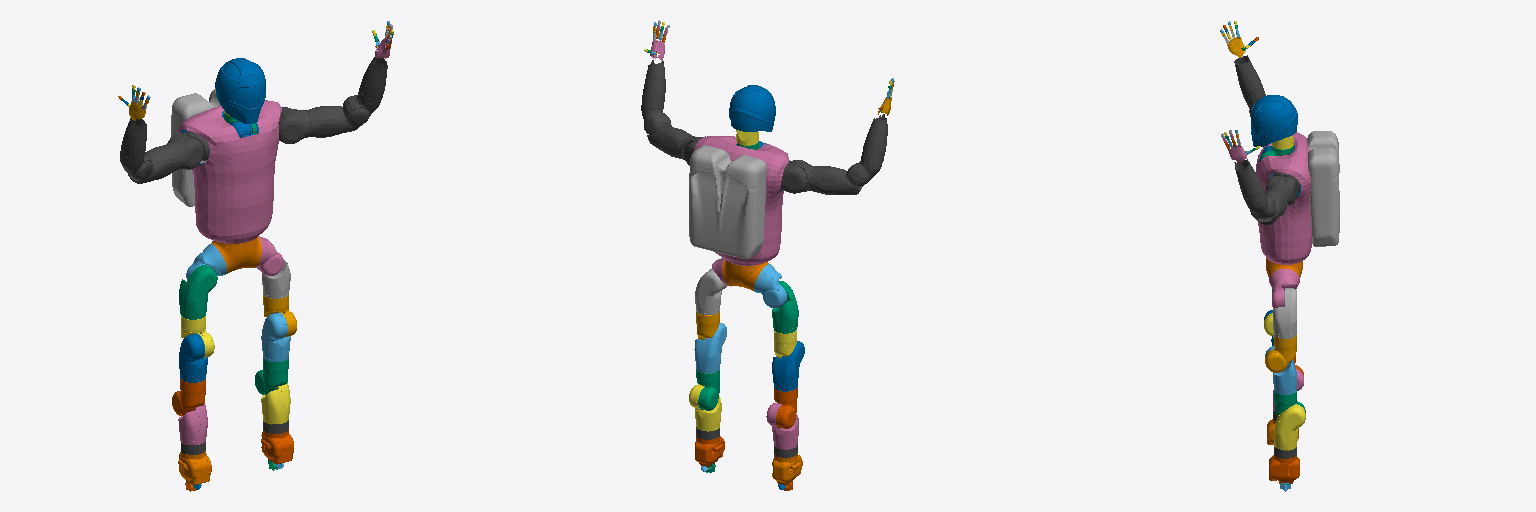
--- Render facts (derived) ---
3 views of the same robot in one strip: view 1: azimuth 30°, elevation 25°; view 2: azimuth 150°, elevation 25°; view 3: azimuth 270°, elevation 25° (orthographic).
Model r2 with 130 links and 129 joints (73 revolute, 1 prismatic, 55 fixed), rooted at world, posed joints at zero except 4 at the middle of their limits (r2/left_arm/joint2 = -2.84, r2/left_arm/joint3 = -1.44, r2/right_arm/joint2 = 2.84, r2/right_arm/joint3 = -1.44).
Links seen in each view (by area): view 1: r2/body_cover, r2/neck_roll, r2/backpack, r2/right_hip_pitch, r2/left_upper_arm, r2/left_knee, r2/right_knee, r2/right_upper_arm, r2/pelvis, r2/left_lower_arm, r2/left_shoulder_pitch, r2/right_lower_arm (+12 smaller); view 2: r2/backpack, r2/body_cover, r2/neck_roll, r2/right_upper_arm, r2/right_knee, r2/left_knee, r2/left_hip_pitch, r2/right_hip_roll, r2/left_lower_arm, r2/right_lower_arm, r2/right_hip_pitch, r2/pelvis (+10 smaller); view 3: r2/body_cover, r2/backpack, r2/neck_roll, r2/left_ankle_pitch, r2/left_hip_pitch, r2/right_lower_arm, r2/left_lower_arm, r2/left_upper_leg, r2/left_leg_foot, r2/left_hip_roll, r2/left_knee, r2/left_upper_arm.
Boxes of the visible links, left/top/right/bottom form: r2/body_cover: left=178, top=100, right=281, bottom=243; r2/neck_roll: left=215, top=58, right=265, bottom=123; r2/backpack: left=171, top=88, right=220, bottom=206; r2/right_hip_pitch: left=179, top=265, right=217, bottom=319; r2/left_upper_arm: left=306, top=106, right=369, bottom=137; r2/left_knee: left=261, top=312, right=290, bottom=361; r2/right_knee: left=179, top=333, right=207, bottom=382; r2/right_upper_arm: left=128, top=145, right=179, bottom=183; r2/pelvis: left=211, top=237, right=261, bottom=273; r2/left_lower_arm: left=358, top=57, right=387, bottom=103; r2/left_shoulder_pitch: left=279, top=109, right=310, bottom=143; r2/right_lower_arm: left=120, top=118, right=146, bottom=163; r2/backpack: left=689, top=145, right=766, bottom=258; r2/body_cover: left=694, top=136, right=788, bottom=265; r2/neck_roll: left=729, top=85, right=775, bottom=131; r2/right_upper_arm: left=811, top=166, right=862, bottom=194; r2/right_knee: left=772, top=341, right=804, bottom=391; r2/left_knee: left=694, top=323, right=726, bottom=372; r2/left_hip_pitch: left=695, top=269, right=725, bottom=314; r2/right_hip_roll: left=754, top=264, right=786, bottom=308; r2/left_lower_arm: left=642, top=60, right=665, bottom=107; r2/right_lower_arm: left=861, top=114, right=887, bottom=162; r2/right_hip_pitch: left=772, top=281, right=798, bottom=333; r2/pelvis: left=722, top=260, right=768, bottom=290; r2/body_cover: left=1256, top=132, right=1311, bottom=264; r2/backpack: left=1307, top=131, right=1339, bottom=246; r2/neck_roll: left=1251, top=95, right=1297, bottom=146; r2/left_ankle_pitch: left=1274, top=404, right=1305, bottom=450; r2/left_hip_pitch: left=1273, top=288, right=1296, bottom=338; r2/right_lower_arm: left=1234, top=55, right=1264, bottom=100; r2/left_lower_arm: left=1234, top=159, right=1265, bottom=203; r2/left_upper_leg: left=1265, top=335, right=1296, bottom=372; r2/left_leg_foot: left=1269, top=455, right=1299, bottom=483; r2/left_hip_roll: left=1269, top=269, right=1299, bottom=308; r2/left_knee: left=1265, top=346, right=1296, bottom=394; r2/left_upper_arm: left=1250, top=187, right=1288, bottom=224.
Size in the robot's own frame: 1.55 by 0.6953 by 2.53 metres.
69 mesh visuals loaded from 33 distinct referenced files (33 Collada DAE).

The robot description file, URDF, robot "r2":
<?xml version="1.0" ?>
<!-- =================================================================================== -->
<!-- |    This document was autogenerated by xacro from r2_fullbody.sim.urdf.xacro     | -->
<!-- |    EDITING THIS FILE BY HAND IS NOT RECOMMENDED                                 | -->
<!-- =================================================================================== -->
<robot name="r2" xmlns:controller="http://playerstage.sourceforge.net/gazebo/xmlschema/#controller" xmlns:interface="http://playerstage.sourceforge.net/gazebo/xmlschema/#interface" xmlns:sensor="http://playerstage.sourceforge.net/gazebo/xmlschema/#sensor" xmlns:xacro="http://playerstage.sourceforge.net/gazebo/xmlschema/#interface">
  <link name="world"/>
  <joint name="r2/fixed/world/robot_world" type="fixed">
    <parent link="world"/>
    <child link="r2/robot_world"/>
    <origin rpy="0 0 0.0" xyz="0.0 0.0 0.0"/>
  </joint>
  <link name="r2/robot_world"/>
  <joint name="r2/fixed/robot_world/robot_base" type="fixed">
    <parent link="r2/robot_world"/>
    <child link="r2/robot_base"/>
    <origin rpy="0 3.14159 1.57079" xyz="0.255 0.9 1.365"/>
  </joint>
  <link name="r2/robot_base"/>
  <joint name="r2/fixed/robot_base/leg_stand_connection" type="fixed">
    <parent link="r2/robot_base"/>
    <child link="r2/leg_stand_connection"/>
    <origin rpy="0 3.14159 0" xyz="0.0 0.0 0.0"/>
  </joint>
  <link name="r2/leg_stand_connection">
    <inertial>
      <mass value="0.01"/>
      <inertia ixx="0.0001" ixy="0.0" ixz="0.0" iyy="0.001" iyz="0.0" izz="0.001"/>
    </inertial>
  </link>
  <material name="white">
    <color rgba="1.0 1.0 1.0 1.0"/>
  </material>
  <material name="dirty_white">
    <color rgba="0.322 0.322 0.322 1.0"/>
  </material>
  <material name="gold">
    <color rgba=".878 .49 0.008 1"/>
  </material>
  <material name="steel">
    <color rgba=".7 .7 .7 1"/>
  </material>
  <material name="blue">
    <color rgba="0 0 0.8 1"/>
  </material>
  <joint name="r2/waist/joint0" type="revolute">
    <parent link="r2/robot_base"/>
    <child link="r2/waist_center"/>
    <axis xyz="0 0 1"/>
    <origin rpy="0.0 0 0.0" xyz="0.0 0.0 0.0"/>
    <dynamics damping="20.0" friction="1.0"/>
    <limit effort="10000000.0" lower="-3.14" upper="3.14" velocity="1000"/>
  </joint>
  <link name="r2/waist_center">
    <visual>
      <geometry>
        <mesh filename="package://r2_description/meshes/Body.dae"/>
      </geometry>
      <origin rpy="-1.57 0 -1.57" xyz="0.01 0.05 -0.5625"/>
    </visual>
    <!-- <collision>
      <geometry>
         <mesh filename="package://r2_description/meshes/Body.dae"/>  
      </geometry>
      <origin rpy="-1.57 0 -1.57" xyz="0.00 0.05 -0.5625"/>
    </collision> -->
    <inertial>
      <mass value="10"/>
      <inertia ixx="1" ixy="0.0" ixz="0.0" iyy="1" iyz="0.0" izz="1"/>
    </inertial>
  </link>
  <joint name="r2/fixed/waist_center/robot_reference" type="fixed">
    <parent link="r2/waist_center"/>
    <child link="r2/robot_reference"/>
    <origin rpy="0.0 0 0.0" xyz="0.1234 0.0 0.0"/>
  </joint>
  <joint name="r2/fixed/waist_center/body_cover" type="fixed">
    <parent link="r2/waist_center"/>
    <child link="r2/body_cover"/>
    <origin rpy="0.0 0.0 0.0" xyz="0 0.0 0.0"/>
  </joint>
  <joint name="r2/fixed/waist_center/backpack" type="fixed">
    <parent link="r2/waist_center"/>
    <child link="r2/backpack"/>
    <origin rpy="0.0 0.0 0.0" xyz="0 0.0 0.0"/>
  </joint>
  <joint name="r2/fixed/waist_center/chest_center" type="fixed">
    <parent link="r2/waist_center"/>
    <child link="r2/chest_center"/>
    <origin rpy="0.0 0.0 0.0" xyz="-0.01235 0.0 0.0"/>
  </joint>
  <link name="r2/robot_reference">
    <inertial>
      <mass value="0.01"/>
      <inertia ixx="0.0001" ixy="0.0" ixz="0.0" iyy="0.001" iyz="0.0" izz="0.001"/>
    </inertial>
  </link>
  <link name="r2/body_cover">
    <visual>
      <geometry>
        <mesh filename="package://r2_description/meshes/Body_Cover.dae"/>
      </geometry>
      <!--       <origin rpy="-1.57 0 -1.57" xyz="0.02 0.05 -0.5625"/>
 -->
      <origin rpy="-1.57 0 -1.57" xyz="0.01 0.05 -0.5625"/>
    </visual>
    <collision>
      <geometry>
        <mesh filename="package://r2_description/meshes/Body_Cover.dae"/>
      </geometry>
      <origin rpy="-1.57 0 -1.57" xyz="0.01 0.05 -0.5625"/>
    </collision>
    <inertial>
      <mass value="0.1"/>
      <inertia ixx="0.001" ixy="0.0" ixz="0.0" iyy="0.001" iyz="0.0" izz="0.001"/>
    </inertial>
  </link>
  <link name="r2/backpack">
    <visual>
      <geometry>
        <mesh filename="package://r2_description/meshes/Backpack.dae"/>
      </geometry>
      <origin rpy="0 0 0.25" xyz="0.0 0.0 -0.54"/>
    </visual>
    <collision>
      <geometry>
        <mesh filename="package://r2_description/meshes/Backpack.dae"/>
      </geometry>
      <origin rpy="0 0 0.25" xyz="0.0 0.0 -0.54"/>
    </collision>
    <inertial>
      <mass value="10"/>
      <inertia ixx="1" ixy="0.0" ixz="0.0" iyy="1" iyz="0.0" izz="1"/>
    </inertial>
  </link>
  <link name="r2/chest_center">
    <inertial>
      <mass value="0.01"/>
      <inertia ixx="0.0001" ixy="0.0" ixz="0.0" iyy="0.001" iyz="0.0" izz="0.001"/>
    </inertial>
  </link>
  <joint name="r2/fixed/chest_center/chest_base" type="fixed">
    <parent link="r2/chest_center"/>
    <child link="r2/chest_base"/>
    <origin rpy="0.0 -0.0 0.0 " xyz="-0.05299202 -0.0 -0.5442458"/>
  </joint>
  <link name="r2/chest_base">
    <inertial>
      <mass value="0.01"/>
      <inertia ixx="0.0001" ixy="0.0" ixz="0.0" iyy="0.001" iyz="0.0" izz="0.001"/>
    </inertial>
  </link>
  <joint name="r2/neck/joint0" type="revolute">
    <parent link="r2/waist_center"/>
    <child link="r2/neck_base"/>
    <origin rpy=" -1.570796 -0.0 0.0 " xyz=" 0.08636 0.0 -0.6142228 "/>
    <dynamics damping="1.0" friction="0.0"/>
    <axis xyz="0 0 1"/>
    <limit effort="10000.0" lower="-0.7" upper="0.175" velocity="1000.0"/>
  </joint>
  <link name="r2/neck_base">
    <visual>
      <geometry>
        <mesh filename="package://r2_description/meshes/Neck_Lower.dae"/>
      </geometry>
      <origin rpy="-1.57 1.57 0" xyz="0.0 0.0 0.0"/>
    </visual>
    <inertial>
      <mass value=".1"/>
      <inertia ixx=".0010" ixy="0.0" ixz="0.0" iyy=".0010" iyz="0.0" izz=".0010"/>
    </inertial>
    <collision>
      <geometry>
        <mesh filename="package://r2_description/meshes/Neck_Lower.dae"/>
      </geometry>
      <origin rpy="-1.57 1.57 0" xyz="0.0 0.0 0.0"/>
    </collision>
  </link>
  <joint name="r2/neck/joint1" type="revolute">
    <parent link="r2/neck_base"/>
    <child link="r2/neck_lower_pitch"/>
    <origin rpy=" -1.570796 -0.0 0.0 " xyz=" -0.0762 -0.0 0.0 "/>
    <dynamics damping="1.0" friction="0.0"/>
    <axis xyz="0 0 1"/>
    <limit effort="10000.0" lower="-1.22" upper="1.22" velocity="1000.0"/>
  </joint>
  <link name="r2/neck_lower_pitch">
    <visual>
      <geometry>
        <mesh filename="package://r2_description/meshes/Neck_Upper.dae"/>
      </geometry>
      <origin rpy="0 0 1.57" xyz="0.075 0.0 0.0"/>
    </visual>
    <inertial>
      <mass value=".1"/>
      <inertia ixx=".0010" ixy="0.0" ixz="0.0" iyy=".0010" iyz="0.0" izz=".0010"/>
    </inertial>
    <collision>
      <geometry>
        <mesh filename="package://r2_description/meshes/Neck_Upper.dae"/>
      </geometry>
      <origin rpy="0 0 1.57" xyz="0.075 0.0 0.0"/>
    </collision>
  </link>
  <joint name="r2/neck/joint2" type="revolute">
    <parent link="r2/neck_lower_pitch"/>
    <child link="r2/neck_roll"/>
    <origin rpy=" 1.570796 -0.0 0.0 " xyz=" 0.0508 0.0 0.1777619 "/>
    <dynamics damping="1.0" friction="0.0"/>
    <axis xyz="0 0 1"/>
    <limit effort="10000.0" lower="-0.7" upper="0.175" velocity="1000.0"/>
  </joint>
  <link name="r2/neck_roll">
    <visual>
      <geometry>
        <mesh filename="package://r2_description/meshes/Head.dae"/>
      </geometry>
      <origin rpy="0 1.57 0" xyz="-0.0 0.07 0.0"/>
    </visual>
    <collision>
      <geometry>
        <mesh filename="package://r2_description/meshes/Head.dae"/>
      </geometry>
      <origin rpy="0 1.57 0" xyz="-0.0 0.07 0.0"/>
    </collision>
    <inertial>
      <mass value=".1"/>
      <inertia ixx=".0010" ixy="0.0" ixz="0.0" iyy=".0010" iyz="0.0" izz=".0010"/>
    </inertial>
  </link>
  <joint name="r2/fixed/neck_roll/neck_upper_pitch" type="fixed">
    <parent link="r2/neck_roll"/>
    <child link="r2/neck_upper_pitch"/>
    <origin rpy=" 1.570796 -0.0 0.0 " xyz=" 0.0 0.0 0.0 "/>
  </joint>
  <link name="r2/neck_upper_pitch">
    <inertial>
      <mass value=".1"/>
      <inertia ixx=".0010" ixy="0.0" ixz="0.0" iyy=".0010" iyz="0.0" izz=".0010"/>
    </inertial>
  </link>
  <joint name="r2/fixed/neck_upper_pitch/asus_frame" type="fixed">
    <parent link="r2/neck_upper_pitch"/>
    <child link="r2/asus_frame"/>
    <origin rpy="1.50 0.0 1.57 " xyz="0.12 -0.015 -0.14 "/>
    <!-- OK    <origin rpy="1.45 0 1.57 " xyz="0.11 -0.040 -0.15 "/>  -->
    <!-- ORIGINAL     <origin rpy="1.57 0 1.57 " xyz="0.066675 -0.0508 -0.116205 "/>  -->
  </joint>
  <joint name="r2/fixed/neck_upper_pitch/simulated_asus_camera_frame" type="fixed">
    <parent link="r2/neck_upper_pitch"/>
    <child link="r2/simulated_asus_camera_frame"/>
    <dynamics damping="1.0"/>
    <origin rpy="3.14 0 0" xyz="0.12 -0.015 -0.14 "/>
    <!--     <origin rpy="0 0 0" xyz="0.12 -0.015 -0.14 "/> -->
  </joint>
  <joint name="r2/fixed/neck_upper_pitch/simulated_asus_depth_frame" type="fixed">
    <parent link="r2/neck_upper_pitch"/>
    <child link="r2/simulated_asus_depth_frame"/>
    <dynamics damping="1.0"/>
    <origin rpy="1.57 0 1.57" xyz="0.12 -0.015 -0.14 "/>
    <!--     <origin rpy="0 0 0" xyz="0.12 -0.015 -0.14 "/> -->
  </joint>
  <joint name="r2/fixed/neck_upper_pitch/vision_center_frame" type="fixed">
    <parent link="r2/neck_upper_pitch"/>
    <child link="r2/vision_center_frame"/>
    <dynamics damping="1.0"/>
    <origin rpy="1.57 -1.57 1.57" xyz=" 0.066675 0.0 -0.116205 "/>
  </joint>
  <link name="r2/asus_frame">
    <inertial>
      <mass value=".01"/>
      <inertia ixx=".0010" ixy="0.0" ixz="0.0" iyy=".0010" iyz="0.0" izz=".0010"/>
    </inertial>
  </link>
  <joint name="r2/fixed/asus_frame/openni_depth_frame" type="fixed">
    <parent link="r2/asus_frame"/>
    <child link="r2/openni_depth_frame"/>
    <origin rpy="1.57 -1.57 0 " xyz="0 0 0 "/>
  </joint>
  <link name="r2/openni_depth_frame">
    <inertial>
      <mass value=".01"/>
      <inertia ixx=".0010" ixy="0.0" ixz="0.0" iyy=".0010" iyz="0.0" izz=".0010"/>
    </inertial>
  </link>
  <link name="r2/simulated_asus_camera_frame">
    <inertial>
      <mass value=".01"/>
      <inertia ixx=".0010" ixy="0.0" ixz="0.0" iyy=".0010" iyz="0.0" izz=".0010"/>
    </inertial>
  </link>
  <link name="r2/simulated_asus_depth_frame">
    <inertial>
      <mass value=".01"/>
      <inertia ixx=".0010" ixy="0.0" ixz="0.0" iyy=".0010" iyz="0.0" izz=".0010"/>
    </inertial>
  </link>
  <link name="r2/vision_center_frame">
    <inertial>
      <mass value=".1"/>
      <inertia ixx=".0010" ixy="0.0" ixz="0.0" iyy=".0010" iyz="0.0" izz=".0010"/>
    </inertial>
  </link>
  <joint name="r2/fixed/vision_center_frame/left_camera_frame" type="fixed">
    <parent link="r2/vision_center_frame"/>
    <child link="r2/left_camera_frame"/>
    <dynamics damping="1.0"/>
    <origin rpy="0 0 1.57" xyz="0.0087 0.04887 0.01789"/>
  </joint>
  <joint name="r2/fixed/vision_center_frame/right_camera_frame" type="fixed">
    <parent link="r2/vision_center_frame"/>
    <child link="r2/right_camera_frame"/>
    <dynamics damping="1.0"/>
    <origin rpy="0 0 1.57" xyz="0.0087 -0.04887 0.01789"/>
  </joint>
  <link name="r2/left_camera_frame">
    <inertial>
      <mass value=".1"/>
      <inertia ixx=".0010" ixy="0.0" ixz="0.0" iyy=".0010" iyz="0.0" izz=".0010"/>
    </inertial>
  </link>
  <joint name="r2/fixed/left_camera_frame/left_camera_optical_frame" type="fixed">
    <parent link="r2/left_camera_frame"/>
    <child link="r2/left_camera_optical_frame"/>
    <dynamics damping="1.0"/>
    <origin rpy="-1.57 -1.57 0" xyz="0 0 0"/>
  </joint>
  <link name="r2/left_camera_optical_frame">
    <inertial>
      <mass value=".1"/>
      <inertia ixx=".0010" ixy="0.0" ixz="0.0" iyy=".0010" iyz="0.0" izz=".0010"/>
    </inertial>
  </link>
  <link name="r2/right_camera_frame">
    <inertial>
      <mass value=".1"/>
      <inertia ixx=".0010" ixy="0.0" ixz="0.0" iyy=".0010" iyz="0.0" izz=".0010"/>
    </inertial>
  </link>
  <joint name="r2/fixed/right_camera_frame/right_camera_optical_frame" type="fixed">
    <parent link="r2/right_camera_frame"/>
    <child link="r2/right_camera_optical_frame"/>
    <dynamics damping="1.0"/>
    <origin rpy="-1.57 -1.57 0" xyz="0 0 0"/>
  </joint>
  <link name="r2/right_camera_optical_frame">
    <inertial>
      <mass value=".1"/>
      <inertia ixx=".0010" ixy="0.0" ixz="0.0" iyy=".0010" iyz="0.0" izz=".0010"/>
    </inertial>
  </link>
  <joint name="r2/left_arm/joint0" type="revolute">
    <parent link="r2/chest_base"/>
    <child link="r2/left_shoulder_roll"/>
    <origin rpy=" -1.5664 -0.0 -2.8802 " xyz=" -0.0 -0.0 0.0 "/>
    <axis xyz="0 0 1"/>
    <dynamics damping="10.0" friction="0.0"/>
    <limit effort="100.0" lower="-1.57" upper="1.57" velocity="1000"/>
  </joint>
  <link name="r2/left_shoulder_roll">
    <visual>
      <geometry>
        <mesh filename="package://r2_description/meshes/Left_Shoulder_Upper.dae"/>
      </geometry>
      <material name="dirty_white"/>
      <origin rpy="0 0 1.57" xyz="0 0 .08"/>
    </visual>
    <!-- <collision>
      <geometry>
        <mesh filename="package://r2_description/meshes/Left_Shoulder_Upper.dae" scale="0.7 0.7 0.7"/>
      </geometry>
      <origin rpy="0 0 1.57" xyz="0 0 .08"/>
    </collision> -->
    <inertial>
      <origin xyz="-0.0089916 -0.00131572   0.10287   "/>
      <mass value="6.168856232"/>
      <inertia ixx="0.0198585269" ixy="-0.0060195977" ixz="-0.0003950635" iyy="0.0671900643" iyz="0.00012683" izz="0.0634150128"/>
    </inertial>
  </link>
  <joint name="r2/left_arm/joint1" type="revolute">
    <parent link="r2/left_shoulder_roll"/>
    <child link="r2/left_shoulder_pitch"/>
    <origin rpy=" -1.5701 -0.0 1.570796 " xyz=" 0.0 0.0 0.316611 "/>
    <axis xyz="0 0 1"/>
    <dynamics damping="10.0" friction="0.0"/>
    <limit effort="100.0" lower="-1.66" upper=".175" velocity="1000"/>
  </joint>
  <link name="r2/left_shoulder_pitch">
    <visual>
      <geometry>
        <mesh filename="package://r2_description/meshes/Left_Shoulder_Lower.dae"/>
      </geometry>
      <material name="dirty_white"/>
      <origin rpy=".0 0 -1.57" xyz="0 0 0"/>
    </visual>
    <!-- <collision>
      <geometry>
        <mesh filename="package://r2_description/meshes/Left_Shoulder_Lower.dae"/>
      </geometry>
      <origin rpy=".0 0 -1.57" xyz="0 0 0"/>
    </collision> -->
    <inertial>
      <origin xyz="0.037084 -0.00028448   0.0077978   "/>
      <mass value="4.4270615312"/>
      <inertia ixx="0.02701064" ixy="0.001512947" ixz="-0.000052382497887" iyy="0.0113836825" iyz="0.0000217138622526" izz="0.0251962741"/>
    </inertial>
  </link>
  <joint name="r2/left_arm/joint2" type="revolute">
    <parent link="r2/left_shoulder_pitch"/>
    <child link="r2/left_upper_arm"/>
    <origin rpy=" 1.57 -0.0 0.0 " xyz=" 0.0 0.0 0.0 "/>
    <axis xyz="0 0 1"/>
    <dynamics damping="10.0" friction="0.0"/>
    <limit effort="100.0" lower="-4.89" upper="-0.79" velocity="1000"/>
  </joint>
  <link name="r2/left_upper_arm">
    <visual>
      <geometry>
        <mesh filename="package://r2_description/meshes/Left_Upper_Arm.dae"/>
      </geometry>
      <material name="dirty_white"/>
      <origin rpy="0 0 3.14" xyz="0 0 .1016"/>
    </visual>
    <collision>
      <geometry>
        <mesh filename="package://r2_description/meshes/Left_Upper_Arm.dae" scale="0.8 0.8 0.8"/>
      </geometry>
      <origin rpy="0 0 3.14" xyz="0 0 .1016"/>
    </collision>
    <inertial>
      <origin xyz="-0.0074168 -0.041402   0.1016   "/>
      <mass value="4.853438359"/>
      <inertia ixx="0.016007389" ixy="-0.00339462" ixz="0.0065843922" iyy="0.0462370652" iyz="0.0013754064" izz="0.04214011"/>
    </inertial>
  </link>
  <joint name="r2/left_arm/joint3" type="revolute">
    <parent link="r2/left_upper_arm"/>
    <child link="r2/left_elbow"/>
    <origin rpy=" -1.5748 -0.0 0.0 " xyz=" -0.05437886 -0.0 0.3564382 "/>
    <axis xyz="0 0 1"/>
    <dynamics damping="1.0" friction="0.0"/>
    <limit effort="100.0" lower="-2.79" upper="-.087" velocity="1000"/>
  </joint>
  <link name="r2/left_elbow">
    <visual>
      <geometry>
        <mesh filename="package://r2_description/meshes/Left_Elbow.dae"/>
      </geometry>
      <material name="dirty_white"/>
      <origin rpy="0 0 -1.57" xyz="0 0 0"/>
    </visual>
    <collision>
      <geometry>
        <mesh filename="package://r2_description/meshes/Left_Elbow.dae"/>
      </geometry>
      <origin rpy="0 0 -1.57" xyz="0 0 0"/>
    </collision>
    <inertial>
      <origin xyz="0.026162 0.033782   0.0154432   "/>
      <mass value="2.9710300235"/>
      <inertia ixx="0.0120274897" ixy="0.0016417085" ixz="-0.001188117" iyy="0.0088377175" iyz="0.0031605083" izz="0.0105350275"/>
    </inertial>
  </link>
  <joint name="r2/left_arm/joint4" type="revolute">
    <parent link="r2/left_elbow"/>
    <child link="r2/left_lower_arm"/>
    <origin rpy=" 1.5738 -0.0 0.0 " xyz=" 0.0540385 0.0 0.0 "/>
    <axis xyz="0 0 1"/>
    <dynamics damping="1.0" friction="0.0"/>
    <limit effort="100.0" lower="-1.3" upper="4.45" velocity="1000"/>
  </joint>
  <link name="r2/left_lower_arm">
    <visual>
      <geometry>
        <mesh filename="package://r2_description/meshes/Left_Forearm.dae"/>
      </geometry>
      <origin xyz="0 0 0.1"/>
      <material name="dirty_white"/>
    </visual>
    <collision>
      <geometry>
        <mesh filename="package://r2_description/meshes/Left_Forearm.dae"/>
      </geometry>
      <origin xyz="0 0 0.1"/>
    </collision>
    <inertial>
      <origin xyz="0.0003556 -0.00122682   0.17653   "/>
      <mass value="6.939963261"/>
      <inertia ixx="0.0125249771" ixy="-0.0002446467" ixz="0.0005208986" iyy="0.0395063532" iyz="-0.0001691457" izz="0.0403842721"/>
    </inertial>
  </link>
  <joint name="r2/left_arm/joint5" type="revolute">
    <parent link="r2/left_lower_arm"/>
    <child link="r2/left_wrist_pitch"/>
    <origin rpy=" -1.5952 -0.0 0.0 " xyz=" 0.0 0.0 0.3570478 "/>
    <axis xyz="0 0 1"/>
    <dynamics damping="1.0" friction="0.0"/>
    <limit effort="100.0" lower="-1.22" upper="1.22" velocity="1000"/>
  </joint>
  <link name="r2/left_wrist_pitch">
    <inertial>
      <origin xyz="-0.004064   0.000000152908   -0.00092202"/>
      <mass value="0.1165732391"/>
      <inertia ixx="0.1" ixy="0.0" ixz="0.0" iyy="0.1" iyz="0.0" izz="0.1"/>
    </inertial>
  </link>
  <joint name="r2/left_arm/joint6" type="revolute">
    <parent link="r2/left_wrist_pitch"/>
    <child link="r2/left_wrist_yaw"/>
    <origin rpy=" 1.6505 -0.0 -1.5727 " xyz=" -0.00001156 -0.006072621 0.0 "/>
    <axis xyz="0 0 1"/>
    <dynamics damping="1.0" friction="0.0"/>
    <limit effort="100.0" lower="-0.785" upper="0.785" velocity="1000"/>
  </joint>
  <link name="r2/left_wrist_yaw">
    <inertial>
      <origin xyz="-0.00090932   -0.0253746  0.067564     "/>
      <mass value="0.1"/>
      <inertia ixx="0.1" ixy="0.0" ixz="0.0" iyy="0.1" iyz="0.0" izz="0.1"/>
    </inertial>
  </link>
  <joint name="r2/fixed/left_wrist_yaw/left_palm" type="fixed">
    <parent link="r2/left_wrist_yaw"/>
    <child link="r2/left_palm"/>
    <origin rpy=" 0.0 -0.0 -0.014 " xyz=" 0.0 -0.0 0.0 "/>
  </joint>
  <link name="r2/left_palm">
    <visual>
      <geometry>
        <mesh filename="package://r2_description/meshes/Left_Palm.dae"/>
      </geometry>
      <origin rpy="3.14 0 1.57" xyz="0.0 0.0 -0.0"/>
    </visual>
    <collision>
      <geometry>
        <mesh filename="package://r2_description/meshes/Left_Palm.dae"/>
      </geometry>
      <origin rpy="3.14 0 1.57" xyz="0.0 0.0 -0.0"/>
    </collision>
    <inertial>
      <origin xyz="0.067564   -0.0253746   -0.00090932"/>
      <mass value="1.1"/>
      <inertia ixx="0.1" ixy="0.0" ixz="0.0" iyy="0.1" iyz="0.0" izz="0.1"/>
    </inertial>
  </link>
  <joint name="r2/left_arm/hand/thumb/joint0" type="revolute">
    <parent link="r2/left_wrist_yaw"/>
    <child link="r2/left_thumb_base"/>
    <origin rpy=" -1.57079632679 -0.0 1.30899702752 " xyz=" 0.03302 0.03048 0.00635 "/>
    <axis xyz="0 0 1"/>
    <limit effort="10000000.0" lower="-1.2217" upper="0.0" velocity="1000"/>
    <dynamics damping="0.1" friction="0.0"/>
  </joint>
  <joint name="r2/fixed/left_index_base/left_index_base" type="fixed">
    <parent link="r2/left_wrist_yaw"/>
    <child link="r2/left_index_base"/>
    <origin rpy=" 0.0 -0.0 0.122172725275 " xyz=" 0.0994646728 0.0271119346 -0.0161544 "/>
  </joint>
  <joint name="r2/left_arm/hand/index/joint0" type="revolute">
    <parent link="r2/left_index_base"/>
    <child link="r2/left_index_yaw"/>
    <origin rpy="0.0 0.0 0.0" xyz="0.0 0.0 0.0"/>
    <axis xyz="0 0 1"/>
    <limit effort="10000000.0" lower="-0.3491" upper="0.3491" velocity="1000"/>
    <dynamics damping="0.1" friction="0.0"/>
  </joint>
  <joint name="r2/fixed/left_middle_base/left_middle_base" type="fixed">
    <parent link="r2/left_wrist_yaw"/>
    <child link="r2/left_middle_base"/>
    <origin rpy=" 0.0 -0.0 0.0 " xyz=" 0.10646537 0.00254 -0.0161544 "/>
  </joint>
  <joint name="r2/left_arm/hand/middle/joint0" type="revolute">
    <parent link="r2/left_middle_base"/>
    <child link="r2/left_middle_yaw"/>
    <origin rpy="0.0 0.0 0.0" xyz="0.0 0.0 0.0"/>
    <axis xyz="0 0 1"/>
    <limit effort="10000000.0" lower="-0.3491" upper="0.3491" velocity="1000"/>
    <dynamics damping="0.1" friction="0.0"/>
  </joint>
  <joint name="r2/left_arm/hand/ring/joint0" type="revolute">
    <parent link="r2/left_wrist_yaw"/>
    <child link="r2/left_ring_proximal"/>
    <origin rpy=" 1.57079632679 -0.0 -0.122172725275 " xyz=" 0.1084570602 -0.0197673468 -0.012319 "/>
    <axis xyz="0 0 1"/>
    <limit effort="10000000.0" lower="0" upper="2.9671" velocity="1000"/>
    <dynamics damping="0.1" friction="0.0"/>
  </joint>
  <joint name="r2/left_arm/hand/little/joint0" type="revolute">
    <parent link="r2/left_wrist_yaw"/>
    <child link="r2/left_little_proximal"/>
    <origin rpy=" 1.60570321374 -0.0872667473393 -0.17453258148 " xyz=" 0.094635701 -0.0403792436 -0.0060878212 "/>
    <axis xyz="0 0 1"/>
    <limit effort="10000000.0" lower="0" upper="2.9671" velocity="1000"/>
    <dynamics damping="0.1" friction="0.0"/>
  </joint>
  <link name="r2/left_thumb_base">
    <inertial>
      <mass value=".05"/>
      <inertia ixx=".0010" ixy="0.0" ixz="0.0" iyy=".0010" iyz="0.0" izz=".0010"/>
    </inertial>
  </link>
  <joint name="r2/fixed/left_thumb_base/left_thumb_proximal" type="fixed">
    <parent link="r2/left_thumb_base"/>
    <child link="r2/left_thumb_proximal"/>
    <origin rpy=" -1.570796 -0.0 0.0 " xyz=" 0.011938 0.0 0.0 "/>
  </joint>
  <link name="r2/left_thumb_proximal">
    <inertial>
      <mass value=".0010"/>
      <inertia ixx=".0010" ixy="0.0" ixz="0.0" iyy=".0010" iyz="0.0" izz=".0010"/>
    </inertial>
    <visual>
      <geometry>
        <mesh filename="package://r2_description/meshes/Left_Thumb_Carp.dae"/>
      </geometry>
      <origin rpy="-1.57 0 0" xyz="-0.01 0.0 0.0"/>
    </visual>
    <collision>
      <geometry>
        <mesh filename="package://r2_description/meshes/Left_Thumb_Carp.dae"/>
      </geometry>
      <origin rpy="-1.57 0 0" xyz="-0.01 0.0 0.0"/>
    </collision>
  </link>
  <joint name="r2/left_arm/hand/thumb/joint1" type="revolute">
    <parent link="r2/left_thumb_proximal"/>
    <child link="r2/left_thumb_medial_prime"/>
    <origin rpy=" 0.0 -0.0 0.0 " xyz=" 0.0 0.0 0.0 "/>
    <axis xyz="0 0 1"/>
    <limit effort="10000000.0" lower="0.0" upper="1.3963" velocity="1000"/>
    <dynamics damping="0.1" friction="0.0"/>
  </joint>
  <link name="r2/left_thumb_medial_prime">
    <inertial>
      <mass value=".0010"/>
      <inertia ixx=".0010" ixy="0.0" ixz="0.0" iyy=".0010" iyz="0.0" izz=".0010"/>
    </inertial>
    <visual>
      <geometry>
        <mesh filename="package://r2_description/meshes/Left_Thumb_MtCar.dae"/>
      </geometry>
      <origin rpy="-1.57 -1.57 0" xyz="-0.0 0 0.0"/>
    </visual>
    <collision>
      <geometry>
        <mesh filename="package://r2_description/meshes/Left_Thumb_MtCar.dae"/>
      </geometry>
      <origin rpy="-1.57 -1.57 0" xyz="0.0 0.0 0.0"/>
    </collision>
  </link>
  <joint name="r2/left_arm/hand/thumb/joint2" type="revolute">
    <parent link="r2/left_thumb_medial_prime"/>
    <child link="r2/left_thumb_medial"/>
    <origin rpy=" -0.698132284627 -0.0 0.0 " xyz=" 0.030734 -0.001905 0.00254 "/>
    <axis xyz="0 0 1"/>
    <limit effort="10000000.0" lower="0.0" upper="1.2217" velocity="1000"/>
    <dynamics damping="0.1" friction="0.0"/>
  </joint>
  <link name="r2/left_thumb_medial">
    <inertial>
      <mass value=".0010"/>
      <inertia ixx=".0010" ixy="0.0" ixz="0.0" iyy=".0010" iyz="0.0" izz=".0010"/>
    </inertial>
    <visual>
      <geometry>
        <mesh filename="package://r2_description/meshes/Thumb_Proximal.dae"/>
      </geometry>
      <origin rpy="3.14 0 1.57" xyz="0.0 0.0 0.0"/>
    </visual>
    <collision>
      <geometry>
        <mesh filename="package://r2_description/meshes/Thumb_Proximal.dae"/>
      </geometry>
      <origin rpy="3.14 0 1.57" xyz="0.0 0.0 0.0"/>
    </collision>
  </link>
  <joint name="r2/left_arm/hand/thumb/joint3" type="revolute">
    <parent link="r2/left_thumb_medial"/>
    <child link="r2/left_thumb_distal"/>
    <origin rpy=" 0.0 -0.0 0.0 " xyz=" 0.03937 0.0 0.0 "/>
    <axis xyz="0 0 1"/>
    <limit effort="10000000.0" lower="-0.5236" upper="1.57" velocity="1000"/>
    <dynamics damping="0.1" friction="0.0"/>
  </joint>
  <link name="r2/left_thumb_distal">
    <inertial>
      <mass value=".0010"/>
      <inertia ixx=".0010" ixy="0.0" ixz="0.0" iyy=".0010" iyz="0.0" izz=".0010"/>
    </inertial>
    <visual>
      <geometry>
        <mesh filename="package://r2_description/meshes/Thumb_Dist.dae"/>
      </geometry>
      <origin rpy="3.14 3.14 0" xyz="0.0 0.0 0.0"/>
    </visual>
    <collision>
      <geometry>
        <mesh filename="package://r2_description/meshes/Thumb_Dist.dae"/>
      </geometry>
      <origin rpy="3.14 3.14 0" xyz="0.0 0.0 0.0"/>
    </collision>
  </link>
  <joint name="r2/fixed/left_thumb_distal/left_thumb_tip" type="fixed">
    <parent link="r2/left_thumb_distal"/>
    <child link="r2/left_thumb_tip"/>
    <origin rpy=" 0.0 -0.0 0.0 " xyz=" 0.03302 0.0 0.0 "/>
  </joint>
  <link name="r2/left_thumb_tip">
    <inertial>
      <mass value=".0010"/>
      <inertia ixx=".0010" ixy="0.0" ixz="0.0" iyy=".0010" iyz="0.0" izz=".0010"/>
    </inertial>
  </link>
  <link name="r2/left_index_base">
    <inertial>
      <mass value=".0010"/>
      <inertia ixx=".0010" ixy="0.0" ixz="0.0" iyy=".0010" iyz="0.0" izz=".0010"/>
    </inertial>
  </link>
  <link name="r2/left_index_yaw">
    <inertial>
      <mass value=".0010"/>
      <inertia ixx=".0010" ixy="0.0" ixz="0.0" iyy=".0010" iyz="0.0" izz=".0010"/>
    </inertial>
  </link>
  <joint name="r2/left_arm/hand/index/joint1" type="revolute">
    <parent link="r2/left_index_yaw"/>
    <child link="r2/left_index_proximal"/>
    <origin rpy=" 1.570796 0.0 0.0 " xyz=" 0.009652 0.0 0.0 "/>
    <axis xyz="0 0 1"/>
    <limit effort="10000000.0" lower="0.0" upper="1.57" velocity="1000"/>
    <dynamics damping="0.1" friction="0.0"/>
  </joint>
  <link name="r2/left_index_proximal">
    <inertial>
      <mass value=".0010"/>
      <inertia ixx=".0010" ixy="0.0" ixz="0.0" iyy=".0010" iyz="0.0" izz=".0010"/>
    </inertial>
    <visual>
      <geometry>
        <mesh filename="package://r2_description/meshes/Finger_Proximal.dae"/>
      </geometry>
      <origin rpy="0 0 1.57" xyz="0.0 0.0 0.0"/>
    </visual>
    <collision>
      <geometry>
        <mesh filename="package://r2_description/meshes/Finger_Proximal.dae"/>
      </geometry>
      <origin rpy="0 0 1.57" xyz="0.0 0.0 0.0"/>
    </collision>
  </link>
  <joint name="r2/left_arm/hand/index/joint2" type="revolute">
    <parent link="r2/left_index_proximal"/>
    <child link="r2/left_index_medial"/>
    <origin rpy=" 0.0 -0.0 0.0 " xyz=" 0.04445 0.0 0.0 "/>
    <axis xyz="0 0 1"/>
    <limit effort="10000000.0" lower="0.0" upper="1.57" velocity="1000"/>
    <dynamics damping="0.1" friction="0.0"/>
  </joint>
  <link name="r2/left_index_medial">
    <inertial>
      <mass value=".0010"/>
      <inertia ixx=".0010" ixy="0.0" ixz="0.0" iyy=".0010" iyz="0.0" izz=".0010"/>
    </inertial>
    <visual>
      <geometry>
        <mesh filename="package://r2_description/meshes/Finger_Mid.dae"/>
      </geometry>
      <origin rpy="3.14 0 1.57" xyz="0.0 0.0 0.0"/>
    </visual>
    <collision>
      <geometry>
        <mesh filename="package://r2_description/meshes/Finger_Mid.dae"/>
      </geometry>
      <origin rpy="3.14 0 1.57" xyz="0.0 0.0 0.0"/>
    </collision>
  </link>
  <joint name="r2/left_arm/hand/index/joint3" type="revolute">
    <parent link="r2/left_index_medial"/>
    <child link="r2/left_index_distal"/>
    <origin rpy=" 0.0 -0.0 0.0 " xyz=" 0.03048 0.0 0.0 "/>
    <axis xyz="0 0 1"/>
    <limit effort="10000000.0" lower="0.0" upper="1.57" velocity="1000"/>
    <dynamics damping="0.1" friction="0.0"/>
  </joint>
  <link name="r2/left_index_distal">
    <inertial>
      <mass value=".0010"/>
      <inertia ixx=".0010" ixy="0.0" ixz="0.0" iyy=".0010" iyz="0.0" izz=".0010"/>
    </inertial>
    <visual>
      <geometry>
        <mesh filename="package://r2_description/meshes/Finger_Dist.dae"/>
      </geometry>
      <origin rpy="0 -1.57 0" xyz="0.0 0.0 0.0"/>
    </visual>
    <collision>
      <geometry>
        <mesh filename="package://r2_description/meshes/Finger_Dist.dae"/>
      </geometry>
      <origin rpy="0 -1.57 0" xyz="0.0 0.0 0.0"/>
    </collision>
  </link>
  <joint name="r2/fixed/left_index_distal/left_index_tip" type="fixed">
    <parent link="r2/left_index_distal"/>
    <child link="r2/left_index_tip"/>
    <origin rpy=" 0.0 -0.0 0.0 " xyz=" 0.024638 0.0 0.0 "/>
  </joint>
  <link name="r2/left_index_tip">
    <inertial>
      <mass value=".0010"/>
      <inertia ixx=".0010" ixy="0.0" ixz="0.0" iyy=".0010" iyz="0.0" izz=".0010"/>
    </inertial>
  </link>
  <link name="r2/left_middle_base">
    <inertial>
      <mass value=".0010"/>
      <inertia ixx=".0010" ixy="0.0" ixz="0.0" iyy=".0010" iyz="0.0" izz=".0010"/>
    </inertial>
  </link>
  <link name="r2/left_middle_yaw">
    <inertial>
      <mass value=".0010"/>
      <inertia ixx=".0010" ixy="0.0" ixz="0.0" iyy=".0010" iyz="0.0" izz=".0010"/>
    </inertial>
  </link>
  <joint name="r2/left_arm/hand/middle/joint1" type="revolute">
    <parent link="r2/left_middle_yaw"/>
    <child link="r2/left_middle_proximal"/>
    <origin rpy=" 1.570796 -0.0 0.0 " xyz=" 0.009652 0.0 0.0 "/>
    <axis xyz="0 0 1"/>
    <limit effort="10000000.0" lower="0.0" upper="1.57" velocity="1000"/>
    <dynamics damping="0.1" friction="0.0"/>
  </joint>
  <link name="r2/left_middle_proximal">
    <inertial>
      <mass value=".0010"/>
      <inertia ixx=".0010" ixy="0.0" ixz="0.0" iyy=".0010" iyz="0.0" izz=".0010"/>
    </inertial>
    <visual>
      <geometry>
        <mesh filename="package://r2_description/meshes/Finger_Proximal.dae"/>
      </geometry>
      <origin rpy="0 0 1.57" xyz="0.0 0.0 0.0"/>
    </visual>
    <collision>
      <geometry>
        <mesh filename="package://r2_description/meshes/Finger_Proximal.dae"/>
      </geometry>
      <origin rpy="0 0 1.57" xyz="0.0 0.0 0.0"/>
    </collision>
  </link>
  <joint name="r2/left_arm/hand/middle/joint2" type="revolute">
    <parent link="r2/left_middle_proximal"/>
    <child link="r2/left_middle_medial"/>
    <origin rpy=" 0.0 -0.0 0.0 " xyz=" 0.04445 0.0 0.0 "/>
    <axis xyz="0 0 1"/>
    <limit effort="10000000.0" lower="0.0" upper="1.57" velocity="1000"/>
    <dynamics damping="0.1" friction="0.0"/>
  </joint>
  <link name="r2/left_middle_medial">
    <inertial>
      <mass value=".0010"/>
      <inertia ixx=".0010" ixy="0.0" ixz="0.0" iyy=".0010" iyz="0.0" izz=".0010"/>
    </inertial>
    <visual>
      <geometry>
        <mesh filename="package://r2_description/meshes/Finger_Mid.dae"/>
      </geometry>
      <origin rpy="3.14 0 1.57" xyz="0.0 0.0 0.0"/>
    </visual>
    <collision>
      <geometry>
        <mesh filename="package://r2_description/meshes/Finger_Mid.dae"/>
      </geometry>
      <origin rpy="3.14 0 1.57" xyz="0.0 0.0 0.0"/>
    </collision>
  </link>
  <joint name="r2/left_arm/hand/middle/joint3" type="revolute">
    <parent link="r2/left_middle_medial"/>
    <child link="r2/left_middle_distal"/>
    <origin rpy=" 0.0 -0.0 0.0 " xyz=" 0.03048 0.0 0.0 "/>
    <axis xyz="0 0 1"/>
    <limit effort="10000000.0" lower="0.0" upper="1.57" velocity="1000"/>
    <dynamics damping="0.1" friction="0.0"/>
  </joint>
  <link name="r2/left_middle_distal">
    <inertial>
      <mass value=".0010"/>
      <inertia ixx=".0010" ixy="0.0" ixz="0.0" iyy=".0010" iyz="0.0" izz=".0010"/>
    </inertial>
    <visual>
      <geometry>
        <mesh filename="package://r2_description/meshes/Finger_Dist.dae"/>
      </geometry>
      <origin rpy="0 -1.57 0" xyz="0.0 0.0 0.0"/>
    </visual>
    <collision>
      <geometry>
        <mesh filename="package://r2_description/meshes/Finger_Dist.dae"/>
      </geometry>
      <origin rpy="0 -1.57 0" xyz="0.0 0.0 0.0"/>
    </collision>
  </link>
  <joint name="r2/fixed/left_middle_distal/left_middle_tip" type="fixed">
    <parent link="r2/left_middle_distal"/>
    <child link="r2/left_middle_tip"/>
    <origin rpy=" 0.0 -0.0 0.0 " xyz=" 0.024638 0.0 0.0 "/>
  </joint>
  <link name="r2/left_middle_tip">
    <inertial>
      <mass value=".0010"/>
      <inertia ixx=".0010" ixy="0.0" ixz="0.0" iyy=".0010" iyz="0.0" izz=".0010"/>
    </inertial>
  </link>
  <link name="r2/left_ring_proximal">
    <inertial>
      <mass value=".0010"/>
      <inertia ixx=".0010" ixy="0.0" ixz="0.0" iyy=".0010" iyz="0.0" izz=".0010"/>
    </inertial>
    <visual>
      <geometry>
        <mesh filename="package://r2_description/meshes/Finger_Proximal.dae"/>
      </geometry>
      <origin rpy="0 0 1.57" xyz="0.0 0.0 0.0"/>
    </visual>
    <collision>
      <geometry>
        <mesh filename="package://r2_description/meshes/Finger_Proximal.dae"/>
      </geometry>
      <origin rpy="0 0 1.57" xyz="0.0 0.0 0.0"/>
    </collision>
  </link>
  <joint name="r2/left_arm/hand/ring/joint1" type="revolute">
    <parent link="r2/left_ring_proximal"/>
    <child link="r2/left_ring_medial"/>
    <origin rpy=" 0.0 -0.0 0.0 " xyz=" 0.04445 0.0 0.0 "/>
    <axis xyz="0 0 1"/>
    <limit effort="10000000.0" lower="0" upper="2.9671" velocity="1000"/>
    <dynamics damping="0.1" friction="0.0"/>
  </joint>
  <link name="r2/left_ring_medial">
    <inertial>
      <mass value=".0010"/>
      <inertia ixx=".0010" ixy="0.0" ixz="0.0" iyy=".0010" iyz="0.0" izz=".0010"/>
    </inertial>
    <visual>
      <geometry>
        <mesh filename="package://r2_description/meshes/Finger_Mid.dae"/>
      </geometry>
      <origin rpy="3.14 0 1.57" xyz="0.0 0.0 0.0"/>
    </visual>
    <collision>
      <geometry>
        <mesh filename="package://r2_description/meshes/Finger_Mid.dae"/>
      </geometry>
      <origin rpy="3.14 0 1.57" xyz="0.0 0.0 0.0"/>
    </collision>
  </link>
  <joint name="r2/left_arm/hand/ring/joint2" type="revolute">
    <parent link="r2/left_ring_medial"/>
    <child link="r2/left_ring_distal"/>
    <origin rpy=" 0.0 -0.0 0.0 " xyz=" 0.03048 0.0 0.0 "/>
    <axis xyz="0 0 1"/>
    <limit effort="10000000.0" lower="0" upper="2.9671" velocity="1000"/>
    <dynamics damping="0.1" friction="0.0"/>
  </joint>
  <link name="r2/left_ring_distal">
    <inertial>
      <mass value=".0010"/>
      <inertia ixx=".0010" ixy="0.0" ixz="0.0" iyy=".0010" iyz="0.0" izz=".0010"/>
    </inertial>
    <visual>
      <geometry>
        <mesh filename="package://r2_description/meshes/Finger_Dist.dae"/>
      </geometry>
      <origin rpy="0 -1.57 0" xyz="0.0 0.0 0.0"/>
    </visual>
    <collision>
      <geometry>
        <mesh filename="package://r2_description/meshes/Finger_Dist.dae"/>
      </geometry>
      <origin rpy="0 -1.57 0" xyz="0.0 0.0 0.0"/>
    </collision>
  </link>
  <joint name="r2/fixed/left_ring_distal/left_ring_tip" type="fixed">
    <parent link="r2/left_ring_distal"/>
    <child link="r2/left_ring_tip"/>
    <origin rpy=" 0.0 -0.0 0.0 " xyz=" 0.024638 0.0 0.0 "/>
  </joint>
  <link name="r2/left_ring_tip">
    <inertial>
      <mass value=".0010"/>
      <inertia ixx=".0010" ixy="0.0" ixz="0.0" iyy=".0010" iyz="0.0" izz=".0010"/>
    </inertial>
  </link>
  <link name="r2/left_little_proximal">
    <inertial>
      <mass value=".0010"/>
      <inertia ixx=".0010" ixy="0.0" ixz="0.0" iyy=".0010" iyz="0.0" izz=".0010"/>
    </inertial>
    <visual>
      <geometry>
        <mesh filename="package://r2_description/meshes/Finger_Proximal.dae"/>
      </geometry>
      <origin rpy="0 0 1.57" xyz="0.0 0.0 0.0"/>
    </visual>
    <collision>
      <geometry>
        <mesh filename="package://r2_description/meshes/Finger_Proximal.dae"/>
      </geometry>
      <origin rpy="0 0 1.57" xyz="0.0 0.0 0.0"/>
    </collision>
  </link>
  <joint name="r2/left_arm/hand/little/joint1" type="revolute">
    <parent link="r2/left_little_proximal"/>
    <child link="r2/left_little_medial"/>
    <origin rpy=" 0.0 -0.0 0.0 " xyz=" 0.04445 0.0 0.0 "/>
    <axis xyz="0 0 1"/>
    <limit effort="10000000.0" lower="0" upper="2.9671" velocity="1000"/>
    <dynamics damping="0.1" friction="0.0"/>
  </joint>
  <link name="r2/left_little_medial">
    <inertial>
      <mass value=".0010"/>
      <inertia ixx=".0010" ixy="0.0" ixz="0.0" iyy=".0010" iyz="0.0" izz=".0010"/>
    </inertial>
    <visual>
      <geometry>
        <mesh filename="package://r2_description/meshes/Finger_Mid.dae"/>
      </geometry>
      <origin rpy="3.14 0 1.57" xyz="0.0 0.0 0.0"/>
    </visual>
    <collision>
      <geometry>
        <mesh filename="package://r2_description/meshes/Finger_Mid.dae"/>
      </geometry>
      <origin rpy="3.14 0 1.57" xyz="0.0 0.0 0.0"/>
    </collision>
  </link>
  <joint name="r2/left_arm/hand/little/joint2" type="revolute">
    <parent link="r2/left_little_medial"/>
    <child link="r2/left_little_distal"/>
    <origin rpy=" 0.0 -0.0 0.0 " xyz=" 0.03048 0.0 0.0 "/>
    <axis xyz="0 0 1"/>
    <limit effort="10000000.0" lower="0" upper="2.9671" velocity="1000"/>
    <dynamics damping="0.1" friction="0.0"/>
  </joint>
  <link name="r2/left_little_distal">
    <inertial>
      <mass value=".0010"/>
      <inertia ixx=".0010" ixy="0.0" ixz="0.0" iyy=".0010" iyz="0.0" izz=".0010"/>
    </inertial>
    <visual>
      <geometry>
        <mesh filename="package://r2_description/meshes/Finger_Dist.dae"/>
      </geometry>
      <origin rpy="0 -1.57 0" xyz="0.0 0.0 0.0"/>
    </visual>
    <collision>
      <geometry>
        <mesh filename="package://r2_description/meshes/Finger_Dist.dae"/>
      </geometry>
      <origin rpy="0 -1.57 0" xyz="0.0 0.0 0.0"/>
    </collision>
  </link>
  <joint name="r2/fixed/left_little_distal/left_little_tip" type="fixed">
    <parent link="r2/left_little_distal"/>
    <child link="r2/left_little_tip"/>
    <origin rpy=" 0.0 -0.0 0.0 " xyz=" 0.024638 0.0 0.0 "/>
  </joint>
  <link name="r2/left_little_tip">
    <inertial>
      <mass value=".0010"/>
      <inertia ixx=".0010" ixy="0.0" ixz="0.0" iyy=".0010" iyz="0.0" izz=".0010"/>
    </inertial>
  </link>
  <joint name="r2/right_arm/joint0" type="revolute">
    <parent link="r2/chest_base"/>
    <child link="r2/right_shoulder_roll"/>
    <origin rpy=" -1.5596 -0.0 -0.26157" xyz=" 0.0 -0.0 0.0"/>
    <axis xyz="0 0 1"/>
    <dynamics damping="10.0" friction="0.0"/>
    <limit effort="100.0" lower="-1.57" upper="1.57" velocity="1000"/>
  </joint>
  <link name="r2/right_shoulder_roll">
    <visual>
      <geometry>
        <mesh filename="package://r2_description/meshes/Right_Shoulder_Upper.dae"/>
      </geometry>
      <material name="dirty_white"/>
      <origin rpy="0 0 2.25" xyz="0 0 .0254"/>
    </visual>
    <!-- <collision>
      <geometry>
        <mesh filename="package://r2_description/meshes/Right_Shoulder_Upper.dae"/>
      </geometry>
      <origin rpy="0 0 2.35" xyz="0 0 .0254"/>
    </collision> -->
    <inertial>
      <origin xyz="0.0089916 -0.00131572  0.10287"/>
      <mass value="6.168856232"/>
      <inertia ixx="0.0198585269" ixy="0.0060195977" ixz="0.0003950635" iyy="0.0671900643" iyz="0.00012683" izz="0.0634150128"/>
    </inertial>
  </link>
  <joint name="r2/right_arm/joint1" type="revolute">
    <parent link="r2/right_shoulder_roll"/>
    <child link="r2/right_shoulder_pitch"/>
    <origin rpy=" 1.5637 -0.0 -1.570796" xyz=" 0.0 -0.0 0.320929"/>
    <axis xyz="0 0 1"/>
    <dynamics damping="10.0" friction="0.0"/>
    <limit effort="100.0" lower="-1.66" upper=".175" velocity="1000"/>
  </joint>
  <link name="r2/right_shoulder_pitch">
    <visual>
      <geometry>
        <mesh filename="package://r2_description/meshes/Right_Shoulder_Lower.dae"/>
      </geometry>
      <material name="dirty_white"/>
      <origin rpy=".0 0 1.57" xyz="0 0 0"/>
    </visual>
    <!--   <collision>
      <geometry>
        <mesh filename="package://r2_description/meshes/Right_Shoulder_Lower.dae"/>
      </geometry>
      <origin rpy=".0 0 1.57" xyz="0 0 0"/>
    </collision> -->
    <inertial>
      <origin xyz="0.0077978 0.037084 0.00028448"/>
      <mass value="4.4270615312"/>
      <inertia ixx="0.0113836825" ixy="-.0000217138622526" ixz="-.001512947" iyy="0.0251962741" iyz="-0.000052382497887" izz="0.02701064"/>
    </inertial>
  </link>
  <joint name="r2/right_arm/joint2" type="revolute">
    <parent link="r2/right_shoulder_pitch"/>
    <child link="r2/right_upper_arm"/>
    <origin rpy=" -1.5679 -0.0 0.0" xyz=" 0.0 0.0 0.0"/>
    <axis xyz="0 0 1"/>
    <dynamics damping="10.0" friction="0.0"/>
    <limit effort="100.0" lower="0.785" upper="4.89" velocity="1000"/>
  </joint>
  <link name="r2/right_upper_arm">
    <visual>
      <geometry>
        <mesh filename="package://r2_description/meshes/Right_Upper_Arm.dae"/>
      </geometry>
      <material name="dirty_white"/>
      <origin rpy="0 0 0" xyz="0 0 .1016"/>
    </visual>
    <collision>
      <geometry>
        <mesh filename="package://r2_description/meshes/Right_Upper_Arm.dae"/>
      </geometry>
      <origin rpy="0 0 0" xyz="0 0 .1016"/>
    </collision>
    <inertial>
      <origin xyz="0.041402  -0.0074168  0.1016"/>
      <mass value="4.853438359"/>
      <inertia ixx="0.04214011" ixy="-0.0013754064" ixz="-0.0065843922" iyy="0.0462370652" iyz="-0.00339462" izz="0.016007389"/>
    </inertial>
  </link>
  <joint name="r2/right_arm/joint3" type="revolute">
    <parent link="r2/right_upper_arm"/>
    <child link="r2/right_elbow"/>
    <origin rpy=" 1.5684 -0.0 0.0" xyz=" 0.0536067 0.0 0.355219"/>
    <axis xyz="0 0 1"/>
    <dynamics damping="1.0" friction="0.0"/>
    <limit effort="100.0" lower="-2.79" upper="-.087" velocity="1000"/>
  </joint>
  <link name="r2/right_elbow">
    <visual>
      <geometry>
        <mesh filename="package://r2_description/meshes/Right_Elbow.dae"/>
      </geometry>
      <material name="dirty_white"/>
      <origin rpy="0 0 1.57" xyz="0 0 0"/>
    </visual>
    <collision>
      <geometry>
        <mesh filename="package://r2_description/meshes/Right_Elbow.dae"/>
      </geometry>
      <origin rpy="0 0 1.57" xyz="0 0 0"/>
    </collision>
    <inertial>
      <origin xyz=" -0.026162  0.033782 0.0154432"/>
      <mass value="2.9710300235"/>
      <inertia ixx="0.0120274897" ixy="-0.001188117" ixz="0.0016417085" iyy="0.0088377175" iyz="-0.0031605083" izz="0.0105350275"/>
    </inertial>
  </link>
  <joint name="r2/right_arm/joint4" type="revolute">
    <parent link="r2/right_elbow"/>
    <child link="r2/right_lower_arm"/>
    <origin rpy=" -1.5656 -0.0 0.0" xyz=" -0.0537464 -0.0 0.0"/>
    <axis xyz="0 0 1"/>
    <dynamics damping="1.0" friction="0.0"/>
    <limit effort="100.0" lower="-4.45" upper="1.31" velocity="1000"/>
  </joint>
  <link name="r2/right_lower_arm">
    <visual>
      <geometry>
        <mesh filename="package://r2_description/meshes/Right_Forearm.dae"/>
      </geometry>
      <material name="dirty_white"/>
      <origin xyz="0 0 0.1"/>
    </visual>
    <collision>
      <geometry>
        <mesh filename="package://r2_description/meshes/Right_Forearm.dae"/>
      </geometry>
      <origin xyz="0 0 0.1"/>
    </collision>
    <inertial>
      <origin xyz="0.0003556 -0.00122682 0.17653"/>
      <mass value="6.939963261"/>
      <inertia ixx="0.0125249771" ixy="0.0002446467" ixz="0.0005208986" iyy="0.0395063532" iyz="0.0001691457" izz="0.0403842721"/>
    </inertial>
  </link>
  <joint name="r2/right_arm/joint5" type="revolute">
    <parent link="r2/right_lower_arm"/>
    <child link="r2/right_wrist_pitch"/>
    <origin rpy=" 1.5329 -0.0 0.0" xyz=" 0.0 0.0 0.3569462"/>
    <axis xyz="0 0 1"/>
    <dynamics damping="1.0" friction="0.0"/>
    <limit effort="100.0" lower="-1.22" upper="1.22" velocity="1000"/>
  </joint>
  <link name="r2/right_wrist_pitch">
    <inertial>
      <origin xyz="0.00092202 -0.004064 0.000000152908"/>
      <mass value="0.1165732391"/>
      <inertia ixx="0.1" ixy="0.0" ixz="0.0" iyy="0.1" iyz="0.0" izz="0.1"/>
    </inertial>
  </link>
  <joint name="r2/right_arm/joint6" type="revolute">
    <parent link="r2/right_wrist_pitch"/>
    <child link="r2/right_wrist_yaw"/>
    <origin rpy=" 1.5612 -0.0 1.5923" xyz=" -0.000139607 0.006491247 0.0"/>
    <axis xyz="0 0 1"/>
    <dynamics damping="1.0" friction="0.0"/>
    <limit effort="100.0" lower="-0.785" upper="0.785" velocity="1000"/>
  </joint>
  <link name="r2/right_wrist_yaw">
    <inertial>
      <origin xyz="0.067564 0.00090932 0.0253746"/>
      <mass value="0.1"/>
      <inertia ixx="0.1" ixy="0.0" ixz="0.0" iyy="0.1" iyz="0.0" izz="0.1"/>
    </inertial>
  </link>
  <joint name="r2/fixed/right_wrist_yaw/right_palm" type="fixed">
    <parent link="r2/right_wrist_yaw"/>
    <child link="r2/right_palm"/>
    <origin rpy=" 0.0 -0.0 0.0299" xyz=" 0.0 0.0 0.0"/>
  </joint>
  <link name="r2/right_palm">
    <visual>
      <geometry>
        <mesh filename="package://r2_description/meshes/Right_Palm.dae"/>
      </geometry>
      <origin rpy="3.14 0 1.57" xyz="0.0 0.0 -0.0"/>
    </visual>
    <collision>
      <geometry>
        <mesh filename="package://r2_description/meshes/Right_Palm.dae"/>
      </geometry>
      <origin rpy="3.14 0 1.57" xyz="0.0 0.0 -0.0"/>
    </collision>
    <inertial>
      <mass value="1.1"/>
      <inertia ixx="0.1" ixy="0.0" ixz="0.0" iyy="0.1" iyz="0.0" izz="0.1"/>
    </inertial>
  </link>
  <joint name="r2/right_arm/hand/thumb/joint0" type="revolute">
    <parent link="r2/right_wrist_yaw"/>
    <child link="r2/right_thumb_base"/>
    <origin rpy=" 1.57079632679 0.174532791018 -1.30899687745 " xyz="0.03302 -0.03048 0.00635 "/>
    <axis xyz="0 0 1"/>
    <limit effort="10000000.0" lower="0.0" upper="1.2217" velocity="1000"/>
    <dynamics damping="0.1" friction="0.0"/>
  </joint>
  <joint name="r2/fixed/right_index_base/right_index_base" type="fixed">
    <parent link="r2/right_wrist_yaw"/>
    <child link="r2/right_index_base"/>
    <origin rpy=" 0.0 -0.0 -0.122172725275  " xyz=" 0.0994646728 -0.0271119346 -0.0161544 "/>
  </joint>
  <joint name="r2/right_arm/hand/index/joint0" type="revolute">
    <parent link="r2/right_index_base"/>
    <child link="r2/right_index_yaw"/>
    <origin rpy="0.0 0.0 0.0" xyz="0.0 0.0 0.0"/>
    <axis xyz="0 0 1"/>
    <limit effort="10000000.0" lower="-0.3491" upper="0.3491" velocity="1000"/>
    <dynamics damping="0.1" friction="0.0"/>
  </joint>
  <joint name="r2/fixed/right_middle_base/right_middle_base" type="fixed">
    <parent link="r2/right_wrist_yaw"/>
    <child link="r2/right_middle_base"/>
    <origin rpy=" 0.0 -0.0 0.0 " xyz="0.10646537 -0.00254 -0.0161544 "/>
  </joint>
  <joint name="r2/right_arm/hand/middle/joint0" type="revolute">
    <parent link="r2/right_middle_base"/>
    <child link="r2/right_middle_yaw"/>
    <origin rpy="0.0 0.0 0.0" xyz="0.0 0.0 0.0"/>
    <axis xyz="0 0 1"/>
    <limit effort="10000000.0" lower="-0.3491" upper="0.3491" velocity="1000"/>
    <dynamics damping="0.1" friction="0.0"/>
  </joint>
  <joint name="r2/right_arm/hand/ring/joint0" type="revolute">
    <parent link="r2/right_wrist_yaw"/>
    <child link="r2/right_ring_proximal"/>
    <origin rpy=" 1.57079632679 -0.0 0.122172725275  " xyz=" 0.1084539614 0.019792569 -0.012319 "/>
    <axis xyz="0 0 1"/>
    <limit effort="10000000.0" lower="0" upper="2.9671" velocity="1000"/>
    <dynamics damping="0.1" friction="0.0"/>
  </joint>
  <joint name="r2/right_arm/hand/little/joint0" type="revolute">
    <parent link="r2/right_wrist_yaw"/>
    <child link="r2/right_little_proximal"/>
    <origin rpy=" 1.53588943985 -0.0872667473393 0.17453258148  " xyz=" 0.094635701 0.0403792436 -0.0060878212 "/>
    <axis xyz="0 0 1"/>
    <limit effort="10000000.0" lower="0" upper="2.9671" velocity="1000"/>
    <dynamics damping="0.1" friction="0.0"/>
  </joint>
  <link name="r2/right_thumb_base">
    <inertial>
      <mass value=".05"/>
      <inertia ixx=".0010" ixy="0.0" ixz="0.0" iyy=".0010" iyz="0.0" izz=".0010"/>
    </inertial>
  </link>
  <joint name="r2/fixed/right_thumb_base/right_thumb_proximal" type="fixed">
    <parent link="r2/right_thumb_base"/>
    <child link="r2/right_thumb_proximal"/>
    <origin rpy=" -1.570796 -0.0 0.0 " xyz=" 0.011938 0.0 0.0 "/>
  </joint>
  <link name="r2/right_thumb_proximal">
    <inertial>
      <mass value=".05"/>
      <inertia ixx=".0010" ixy="0.0" ixz="0.0" iyy=".0010" iyz="0.0" izz=".0010"/>
    </inertial>
    <visual>
      <geometry>
        <mesh filename="package://r2_description/meshes/Left_Thumb_Carp.dae"/>
      </geometry>
      <origin rpy="-1.57 0 0" xyz="-0.01 0.0 0.0"/>
    </visual>
    <collision>
      <geometry>
        <mesh filename="package://r2_description/meshes/Left_Thumb_Carp.dae" scale="0.9 0.9 0.9"/>
      </geometry>
      <origin rpy="-1.57 0 0" xyz="-0.01 0.0 0.0"/>
    </collision>
  </link>
  <joint name="r2/right_arm/hand/thumb/joint1" type="revolute">
    <parent link="r2/right_thumb_proximal"/>
    <child link="r2/right_thumb_medial_prime"/>
    <origin rpy=" 0.0 -0.0 0.0 " xyz=" 0.0 0.0 0.0 "/>
    <axis xyz="0 0 1"/>
    <limit effort="10000000.0" lower="0.0" upper="1.3963" velocity="1000"/>
    <dynamics damping="0.1" friction="0.0"/>
  </joint>
  <link name="r2/right_thumb_medial_prime">
    <inertial>
      <mass value=".05"/>
      <inertia ixx=".0010" ixy="0.0" ixz="0.0" iyy=".0010" iyz="0.0" izz=".0010"/>
    </inertial>
    <visual>
      <geometry>
        <mesh filename="package://r2_description/meshes/Right_Thumb_MtCar.dae"/>
      </geometry>
      <origin rpy="-1.57 -1.57 0 " xyz="-0.0 0 0.0"/>
    </visual>
    <collision>
      <geometry>
        <mesh filename="package://r2_description/meshes/Right_Thumb_MtCar.dae" scale="0.9 0.9 0.9"/>
      </geometry>
      <origin rpy="-1.57 -1.57 0 " xyz="-0.0 0 0.0"/>
    </collision>
  </link>
  <joint name="r2/right_arm/hand/thumb/joint2" type="revolute">
    <parent link="r2/right_thumb_medial_prime"/>
    <child link="r2/right_thumb_medial"/>
    <origin rpy=" 0.698132284627 -0.0 0.0 " xyz=" 0.030734 -0.001905 -0.00254 "/>
    <axis xyz="0 0 1"/>
    <limit effort="10000000.0" lower="0.0" upper="1.2217" velocity="1000"/>
    <dynamics damping="0.1" friction="0.0"/>
  </joint>
  <link name="r2/right_thumb_medial">
    <inertial>
      <mass value=".05"/>
      <inertia ixx=".0010" ixy="0.0" ixz="0.0" iyy=".0010" iyz="0.0" izz=".0010"/>
    </inertial>
    <visual>
      <geometry>
        <mesh filename="package://r2_description/meshes/Thumb_Proximal.dae"/>
      </geometry>
      <origin rpy="3.14 0 1.57" xyz="0.0 0.0 0.0"/>
    </visual>
    <collision>
      <geometry>
        <mesh filename="package://r2_description/meshes/Thumb_Proximal.dae"/>
      </geometry>
      <origin rpy="3.14 0 1.57" xyz="0.0 0.0 0.0"/>
    </collision>
  </link>
  <joint name="r2/right_arm/hand/thumb/joint3" type="revolute">
    <parent link="r2/right_thumb_medial"/>
    <child link="r2/right_thumb_distal"/>
    <origin rpy=" 0.0 -0.0 0.0 " xyz=" 0.03937 0.0 0.0 "/>
    <axis xyz="0 0 1"/>
    <limit effort="10000000.0" lower="-0.5236" upper="1.57" velocity="1000"/>
    <dynamics damping="0.1" friction="0.0"/>
  </joint>
  <link name="r2/right_thumb_distal">
    <inertial>
      <mass value=".05"/>
      <inertia ixx=".0010" ixy="0.0" ixz="0.0" iyy=".0010" iyz="0.0" izz=".0010"/>
    </inertial>
    <visual>
      <geometry>
        <mesh filename="package://r2_description/meshes/Thumb_Dist.dae"/>
      </geometry>
      <origin rpy="3.14 3.14 0" xyz="0.0 0.0 0.0"/>
    </visual>
    <collision>
      <geometry>
        <mesh filename="package://r2_description/meshes/Thumb_Dist.dae"/>
      </geometry>
      <origin rpy="3.14 3.14 0" xyz="0.0 0.0 0.0"/>
    </collision>
  </link>
  <joint name="r2/fixed/right_thumb_distal/right_thumb_tip" type="fixed">
    <parent link="r2/right_thumb_distal"/>
    <child link="r2/right_thumb_tip"/>
    <origin rpy=" 0.0 -0.0 0.0 " xyz=" 0.03302 0.0 0.0 "/>
  </joint>
  <link name="r2/right_thumb_tip">
    <inertial>
      <mass value=".05"/>
      <inertia ixx=".0010" ixy="0.0" ixz="0.0" iyy=".0010" iyz="0.0" izz=".0010"/>
    </inertial>
  </link>
  <link name="r2/right_index_base">
    <inertial>
      <mass value=".05"/>
      <inertia ixx=".0010" ixy="0.0" ixz="0.0" iyy=".0010" iyz="0.0" izz=".0010"/>
    </inertial>
  </link>
  <link name="r2/right_index_yaw">
    <inertial>
      <mass value=".05"/>
      <inertia ixx=".0010" ixy="0.0" ixz="0.0" iyy=".0010" iyz="0.0" izz=".0010"/>
    </inertial>
  </link>
  <joint name="r2/right_arm/hand/index/joint1" type="revolute">
    <parent link="r2/right_index_yaw"/>
    <child link="r2/right_index_proximal"/>
    <origin rpy=" 1.570796 -0.0 0.0 " xyz=" 0.009652 0.0 0.0 "/>
    <axis xyz="0 0 1"/>
    <limit effort="10000000.0" lower="0.0" upper="1.57" velocity="1000"/>
    <dynamics damping="0.1" friction="0.0"/>
  </joint>
  <link name="r2/right_index_proximal">
    <inertial>
      <mass value=".05"/>
      <inertia ixx=".0010" ixy="0.0" ixz="0.0" iyy=".0010" iyz="0.0" izz=".0010"/>
    </inertial>
    <visual>
      <geometry>
        <mesh filename="package://r2_description/meshes/Finger_Proximal.dae"/>
      </geometry>
      <origin rpy="0 0 1.57" xyz="0.0 0.0 0.0"/>
    </visual>
    <collision>
      <geometry>
        <mesh filename="package://r2_description/meshes/Finger_Proximal.dae"/>
      </geometry>
      <origin rpy="0 0 1.57" xyz="0.0 0.0 0.0"/>
    </collision>
  </link>
  <joint name="r2/right_arm/hand/index/joint2" type="revolute">
    <parent link="r2/right_index_proximal"/>
    <child link="r2/right_index_medial"/>
    <origin rpy=" 0.0 -0.0 0.0 " xyz=" 0.04445 0.0 0.0 "/>
    <axis xyz="0 0 1"/>
    <limit effort="10000000.0" lower="0.0" upper="1.57" velocity="1000"/>
    <dynamics damping="0.1" friction="0.0"/>
  </joint>
  <link name="r2/right_index_medial">
    <inertial>
      <mass value=".05"/>
      <inertia ixx=".0010" ixy="0.0" ixz="0.0" iyy=".0010" iyz="0.0" izz=".0010"/>
    </inertial>
    <visual>
      <geometry>
        <mesh filename="package://r2_description/meshes/Finger_Mid.dae"/>
      </geometry>
      <origin rpy="3.14 0 1.57" xyz="0.0 0.0 0.0"/>
    </visual>
    <collision>
      <geometry>
        <mesh filename="package://r2_description/meshes/Finger_Mid.dae"/>
      </geometry>
      <origin rpy="3.14 0 1.57" xyz="0.0 0.0 0.0"/>
    </collision>
  </link>
  <joint name="r2/right_arm/hand/index/joint3" type="revolute">
    <parent link="r2/right_index_medial"/>
    <child link="r2/right_index_distal"/>
    <origin rpy=" 0.0 -0.0 0.0 " xyz=" 0.03048 0.0 0.0 "/>
    <axis xyz="0 0 1"/>
    <limit effort="10000000.0" lower="0.0" upper="1.57" velocity="1000"/>
    <dynamics damping="0.1" friction="0.0"/>
  </joint>
  <link name="r2/right_index_distal">
    <inertial>
      <mass value=".05"/>
      <inertia ixx=".0010" ixy="0.0" ixz="0.0" iyy=".0010" iyz="0.0" izz=".0010"/>
    </inertial>
    <visual>
      <geometry>
        <mesh filename="package://r2_description/meshes/Finger_Dist.dae"/>
      </geometry>
      <origin rpy="0 -1.57 0" xyz="0.0 0.0 0.0"/>
    </visual>
    <collision>
      <geometry>
        <mesh filename="package://r2_description/meshes/Finger_Dist.dae"/>
      </geometry>
      <origin rpy="0 -1.57 0" xyz="0.0 0.0 0.0"/>
    </collision>
  </link>
  <joint name="r2/fixed/right_index_distal/right_index_tip" type="fixed">
    <parent link="r2/right_index_distal"/>
    <child link="r2/right_index_tip"/>
    <origin rpy=" 0.0 -0.0 0.0 " xyz=" 0.024638 0.0 0.0 "/>
  </joint>
  <link name="r2/right_index_tip">
    <inertial>
      <mass value=".05"/>
      <inertia ixx=".0010" ixy="0.0" ixz="0.0" iyy=".0010" iyz="0.0" izz=".0010"/>
    </inertial>
  </link>
  <link name="r2/right_middle_base">
    <inertial>
      <mass value=".0010"/>
      <inertia ixx=".0010" ixy="0.0" ixz="0.0" iyy=".0010" iyz="0.0" izz=".0010"/>
    </inertial>
  </link>
  <link name="r2/right_middle_yaw">
    <inertial>
      <mass value=".0010"/>
      <inertia ixx=".0010" ixy="0.0" ixz="0.0" iyy=".0010" iyz="0.0" izz=".0010"/>
    </inertial>
  </link>
  <joint name="r2/right_arm/hand/middle/joint1" type="revolute">
    <parent link="r2/right_middle_yaw"/>
    <child link="r2/right_middle_proximal"/>
    <origin rpy=" 1.570796 -0.0 0.0 " xyz=" 0.009652 0.0 0.0 "/>
    <axis xyz="0 0 1"/>
    <limit effort="10000000.0" lower="0.0" upper="1.57" velocity="1000"/>
    <dynamics damping="0.1" friction="0.0"/>
  </joint>
  <link name="r2/right_middle_proximal">
    <inertial>
      <mass value=".05"/>
      <inertia ixx=".0010" ixy="0.0" ixz="0.0" iyy=".0010" iyz="0.0" izz=".0010"/>
    </inertial>
    <visual>
      <geometry>
        <mesh filename="package://r2_description/meshes/Finger_Proximal.dae"/>
      </geometry>
      <origin rpy="0 0 1.57" xyz="0.0 0.0 0.0"/>
    </visual>
    <collision>
      <geometry>
        <mesh filename="package://r2_description/meshes/Finger_Proximal.dae" scale="0.9 0.9 0.9"/>
      </geometry>
      <origin rpy="0 0 1.57" xyz="0.0 0.0 0.0"/>
    </collision>
  </link>
  <joint name="r2/right_arm/hand/middle/joint2" type="revolute">
    <parent link="r2/right_middle_proximal"/>
    <child link="r2/right_middle_medial"/>
    <origin rpy=" 0.0 -0.0 0.0 " xyz=" 0.04445 0.0 0.0 "/>
    <axis xyz="0 0 1"/>
    <limit effort="10000000.0" lower="0.0" upper="1.57" velocity="1000"/>
    <dynamics damping="0.1" friction="0.0"/>
  </joint>
  <link name="r2/right_middle_medial">
    <inertial>
      <mass value=".05"/>
      <inertia ixx=".0010" ixy="0.0" ixz="0.0" iyy=".0010" iyz="0.0" izz=".0010"/>
    </inertial>
    <visual>
      <geometry>
        <mesh filename="package://r2_description/meshes/Finger_Mid.dae"/>
      </geometry>
      <origin rpy="3.14 0 1.57" xyz="0.0 0.0 0.0"/>
    </visual>
    <collision>
      <geometry>
        <mesh filename="package://r2_description/meshes/Finger_Mid.dae" scale="0.9 0.9 0.9"/>
      </geometry>
      <origin rpy="3.14 0 1.57" xyz="0.0 0.0 0.0"/>
    </collision>
  </link>
  <joint name="r2/right_arm/hand/middle/joint3" type="revolute">
    <parent link="r2/right_middle_medial"/>
    <child link="r2/right_middle_distal"/>
    <origin rpy=" 0.0 -0.0 0.0 " xyz=" 0.03048 0.0 0.0 "/>
    <axis xyz="0 0 1"/>
    <limit effort="10000000.0" lower="0.0" upper="1.57" velocity="1000"/>
    <dynamics damping="0.1" friction="0.0"/>
  </joint>
  <link name="r2/right_middle_distal">
    <inertial>
      <mass value=".05"/>
      <inertia ixx=".0010" ixy="0.0" ixz="0.0" iyy=".0010" iyz="0.0" izz=".0010"/>
    </inertial>
    <visual>
      <geometry>
        <mesh filename="package://r2_description/meshes/Finger_Dist.dae"/>
      </geometry>
      <origin rpy="0 -1.57 0" xyz="0.0 0.0 0.0"/>
    </visual>
    <collision>
      <geometry>
        <mesh filename="package://r2_description/meshes/Finger_Dist.dae" scale="0.9 0.9 0.9"/>
      </geometry>
      <origin rpy="0 -1.57 0" xyz="0.0 0.0 0.0"/>
    </collision>
  </link>
  <joint name="r2/fixed/right_middle_distal/right_middle_tip" type="fixed">
    <parent link="r2/right_middle_distal"/>
    <child link="r2/right_middle_tip"/>
    <origin rpy=" 0.0 -0.0 0.0 " xyz=" 0.024638 0.0 0.0 "/>
  </joint>
  <link name="r2/right_middle_tip">
    <inertial>
      <mass value=".05"/>
      <inertia ixx=".0010" ixy="0.0" ixz="0.0" iyy=".0010" iyz="0.0" izz=".0010"/>
    </inertial>
  </link>
  <link name="r2/right_ring_proximal">
    <inertial>
      <mass value=".05"/>
      <inertia ixx=".0010" ixy="0.0" ixz="0.0" iyy=".0010" iyz="0.0" izz=".0010"/>
    </inertial>
    <visual>
      <geometry>
        <mesh filename="package://r2_description/meshes/Finger_Proximal.dae"/>
      </geometry>
      <origin rpy="0 0 1.57" xyz="0.0 0.0 0.0"/>
    </visual>
    <collision>
      <geometry>
        <mesh filename="package://r2_description/meshes/Finger_Proximal.dae" scale="0.9 0.9 0.9"/>
      </geometry>
      <origin rpy="0 0 1.57" xyz="0.0 0.0 0.0"/>
    </collision>
  </link>
  <joint name="r2/right_arm/hand/ring/joint1" type="revolute">
    <parent link="r2/right_ring_proximal"/>
    <child link="r2/right_ring_medial"/>
    <origin rpy=" 0.0 -0.0 0.0 " xyz=" 0.04445 0.0 0.0 "/>
    <axis xyz="0 0 1"/>
    <limit effort="10000000.0" lower="0" upper="2.9671" velocity="1000"/>
    <dynamics damping="0.1" friction="0.0"/>
  </joint>
  <link name="r2/right_ring_medial">
    <inertial>
      <mass value=".05"/>
      <inertia ixx=".0010" ixy="0.0" ixz="0.0" iyy=".0010" iyz="0.0" izz=".0010"/>
    </inertial>
    <visual>
      <geometry>
        <mesh filename="package://r2_description/meshes/Finger_Mid.dae"/>
      </geometry>
      <origin rpy="3.14 0 1.57" xyz="0.0 0.0 0.0"/>
    </visual>
    <collision>
      <geometry>
        <mesh filename="package://r2_description/meshes/Finger_Mid.dae" scale="0.9 0.9 0.9"/>
      </geometry>
      <origin rpy="3.14 0 1.57" xyz="0.0 0.0 0.0"/>
    </collision>
  </link>
  <joint name="r2/right_arm/hand/ring/joint2" type="revolute">
    <parent link="r2/right_ring_medial"/>
    <child link="r2/right_ring_distal"/>
    <origin rpy=" 0.0 -0.0 0.0 " xyz=" 0.03048 0.0 0.0 "/>
    <axis xyz="0 0 1"/>
    <limit effort="10000000.0" lower="0" upper="2.9671" velocity="1000"/>
    <dynamics damping="0.1" friction="0.0"/>
  </joint>
  <link name="r2/right_ring_distal">
    <inertial>
      <mass value=".05"/>
      <inertia ixx=".0010" ixy="0.0" ixz="0.0" iyy=".0010" iyz="0.0" izz=".0010"/>
    </inertial>
    <visual>
      <geometry>
        <mesh filename="package://r2_description/meshes/Finger_Dist.dae"/>
      </geometry>
      <origin rpy="0 -1.57 0" xyz="0.0 0.0 0.0"/>
    </visual>
    <collision>
      <geometry>
        <mesh filename="package://r2_description/meshes/Finger_Dist.dae" scale="0.9 0.9 0.9"/>
      </geometry>
      <origin rpy="0 -1.57 0" xyz="0.0 0.0 0.0"/>
    </collision>
  </link>
  <joint name="r2/fixed/right_ring_distal/right_ring_tip" type="fixed">
    <parent link="r2/right_ring_distal"/>
    <child link="r2/right_ring_tip"/>
    <origin rpy=" 0.0 -0.0 0.0 " xyz=" 0.024638 0.0 0.0 "/>
  </joint>
  <link name="r2/right_ring_tip">
    <inertial>
      <mass value=".05"/>
      <inertia ixx=".0010" ixy="0.0" ixz="0.0" iyy=".0010" iyz="0.0" izz=".0010"/>
    </inertial>
  </link>
  <link name="r2/right_little_proximal">
    <inertial>
      <mass value=".05"/>
      <inertia ixx=".0010" ixy="0.0" ixz="0.0" iyy=".0010" iyz="0.0" izz=".0010"/>
    </inertial>
    <visual>
      <geometry>
        <mesh filename="package://r2_description/meshes/Finger_Proximal.dae"/>
      </geometry>
      <origin rpy="0 0 1.57" xyz="0.0 0.0 0.0"/>
    </visual>
    <collision>
      <geometry>
        <mesh filename="package://r2_description/meshes/Finger_Proximal.dae" scale="0.9 0.9 0.9"/>
      </geometry>
      <origin rpy="0 0 1.57" xyz="0.0 0.0 0.0"/>
    </collision>
  </link>
  <joint name="r2/right_arm/hand/little/joint1" type="revolute">
    <parent link="r2/right_little_proximal"/>
    <child link="r2/right_little_medial"/>
    <origin rpy=" 0.0 -0.0 0.0 " xyz=" 0.04445 0.0 0.0 "/>
    <axis xyz="0 0 1"/>
    <limit effort="10000000.0" lower="0" upper="2.9671" velocity="1000"/>
    <dynamics damping="0.1" friction="0.0"/>
  </joint>
  <link name="r2/right_little_medial">
    <inertial>
      <mass value=".05"/>
      <inertia ixx=".0010" ixy="0.0" ixz="0.0" iyy=".0010" iyz="0.0" izz=".0010"/>
    </inertial>
    <visual>
      <geometry>
        <mesh filename="package://r2_description/meshes/Finger_Mid.dae"/>
      </geometry>
      <origin rpy="3.14 0 1.57" xyz="0.0 0.0 0.0"/>
    </visual>
    <collision>
      <geometry>
        <mesh filename="package://r2_description/meshes/Finger_Mid.dae" scale="0.9 0.9 0.9"/>
      </geometry>
      <origin rpy="3.14 0 1.57" xyz="0.0 0.0 0.0"/>
    </collision>
  </link>
  <joint name="r2/right_arm/hand/little/joint2" type="revolute">
    <parent link="r2/right_little_medial"/>
    <child link="r2/right_little_distal"/>
    <origin rpy=" 0.0 -0.0 0.0 " xyz=" 0.03048 0.0 0.0 "/>
    <axis xyz="0 0 1"/>
    <limit effort="10000000.0" lower="0" upper="2.9671" velocity="1000"/>
    <dynamics damping="0.1" friction="0.0"/>
  </joint>
  <link name="r2/right_little_distal">
    <inertial>
      <mass value=".05"/>
      <inertia ixx=".0010" ixy="0.0" ixz="0.0" iyy=".0010" iyz="0.0" izz=".0010"/>
    </inertial>
    <visual>
      <geometry>
        <mesh filename="package://r2_description/meshes/Finger_Dist.dae"/>
      </geometry>
      <origin rpy="0 -1.57 0" xyz="0.0 0.0 0.0"/>
    </visual>
    <collision>
      <geometry>
        <mesh filename="package://r2_description/meshes/Finger_Dist.dae" scale="0.9 0.9 0.9"/>
      </geometry>
      <origin rpy="0 -1.57 0" xyz="0.0 0.0 0.0"/>
    </collision>
  </link>
  <joint name="r2/fixed/right_little_distal/right_little_tip" type="fixed">
    <parent link="r2/right_little_distal"/>
    <child link="r2/right_little_tip"/>
    <origin rpy=" 0.0 -0.0 0.0 " xyz=" 0.024638 0.0 0.0 "/>
  </joint>
  <link name="r2/right_little_tip">
    <inertial>
      <mass value=".05"/>
      <inertia ixx=".0010" ixy="0.0" ixz="0.0" iyy=".0010" iyz="0.0" izz=".0010"/>
    </inertial>
  </link>
  <link name="r2/pelvis">
    <inertial>
      <mass value="13.16272"/>
      <inertia ixx="0.11949" ixy="-0.00024" ixz="0.00000" iyy="0.07163" iyz="0.00000" izz="0.11047"/>
    </inertial>
    <visual>
      <geometry>
        <mesh filename="package://r2_description/meshes/r2_legs/r2cl_ext_pelvis.dae"/>
      </geometry>
      <material name="gold"/>
      <origin rpy="0 0 0" xyz="0 0 0"/>
    </visual>
    <collision>
      <geometry>
        <mesh filename="package://r2_description/meshes/r2_legs/r2cl_ext_pelvis.dae"/>
      </geometry>
      <origin rpy="0 0 0" xyz="0 0 0"/>
    </collision>
  </link>
  <joint name="r2/fixed/leg_stand_connection/pelvis" type="fixed">
    <parent link="r2/leg_stand_connection"/>
    <child link="r2/pelvis"/>
    <origin rpy="0 0 0" xyz="0 0 -0.098"/>
  </joint>
  <joint name="r2/fixed/pelvis/left_leg_base" type="fixed">
    <parent link="r2/pelvis"/>
    <child link="r2/left_leg_base"/>
    <origin rpy="0 0.000000 1.570796" xyz="0.0 0 0.0"/>
  </joint>
  <link name="r2/left_leg_base">
    <inertial>
      <mass value="3.2"/>
      <inertia ixx="1.0" ixy="0.0" ixz="0.0" iyy="1.0" iyz="0.0" izz="1.0"/>
    </inertial>
    <visual>
      <geometry>
        <cylinder length=".11" radius=".05"/>
      </geometry>
      <origin rpy="0 -1.82 0" xyz="-0.055 0.0 -.015 "/>
    </visual>
    <collision>
      <geometry>
        <cylinder length=".11" radius=".05"/>
      </geometry>
      <origin rpy="0 -1.82 0" xyz="-0.055 0.0 -.015 "/>
    </collision>
  </link>
  <joint name="r2/fixed/left_leg_base/left_leg_j0_base" type="fixed">
    <parent link="r2/left_leg_base"/>
    <child link="r2/left_leg_j0_base"/>
    <origin rpy="0.0 1.8325957 3.14159" xyz="-0.1104900 0.0 -0.0297180"/>
  </joint>
  <link name="r2/left_leg_j0_base">
    <inertial>
      <mass value="0.01"/>
      <inertia ixx="0.0001" ixy="0.0" ixz="0.0" iyy="0.001" iyz="0.0" izz="0.001"/>
    </inertial>
  </link>
  <joint name="r2/left_leg/joint0" type="revolute">
    <parent link="r2/left_leg_j0_base"/>
    <child link="r2/left_hip_roll"/>
    <origin rpy="0.0 0 0" xyz="0 0 0"/>
    <axis xyz="0 0 1"/>
    <dynamics damping="10.0" friction="0.0"/>
    <limit effort="330.0" lower="-4.71239" upper="4.71239" velocity="1.0"/>
    <traits spring_k="2.5"/>
  </joint>
  <link name="r2/left_hip_roll">
    <inertial>
      <mass value="2.33931"/>
      <inertia ixx="0.02547" ixy="0.00297" ixz="-0.00847" iyy="0.02956" iyz="0.00636" izz="0.01148"/>
    </inertial>
    <visual>
      <geometry>
        <mesh filename="package://r2_description/meshes/r2_legs/r2cl_ext_bone3.dae"/>
      </geometry>
      <origin rpy="0 0 0" xyz="0.0 0.0 0.0"/>
    </visual>
    <collision>
      <geometry>
        <mesh filename="package://r2_description/meshes/r2_legs/r2cl_ext_bone3.dae"/>
      </geometry>
      <origin rpy="0 0 0" xyz="0.0 0.0 0.0"/>
    </collision>
  </link>
  <joint name="r2/left_leg/joint1" type="revolute">
    <parent link="r2/left_hip_roll"/>
    <child link="r2/left_hip_pitch"/>
    <origin rpy="-1.570796  -0.2617994 0.0000000" xyz="0.050629765 +0.0022860 0.103498576"/>
    <axis xyz="0 0 1"/>
    <dynamics damping="5.0" friction="0.0"/>
    <limit effort="330.0" lower="-1.483" upper="1.27" velocity="1.0"/>
    <traits spring_k="2.5"/>
  </joint>
  <link name="r2/left_hip_pitch">
    <inertial>
      <mass value="4.78221"/>
      <inertia ixx="0.01671" ixy="0.02240" ixz="-0.00120" iyy="0.07877" iyz="0.00049" izz="0.08739"/>
    </inertial>
    <visual>
      <geometry>
        <mesh filename="package://r2_description/meshes/r2_legs/r2cl_ext_bone1.dae"/>
      </geometry>
      <origin rpy="0 0 0" xyz="0 0 0"/>
    </visual>
    <collision>
      <geometry>
        <mesh filename="package://r2_description/meshes/r2_legs/r2cl_ext_bone1.dae"/>
      </geometry>
      <origin rpy="0 0 0" xyz="0 0 0"/>
    </collision>
  </link>
  <joint name="r2/left_leg/joint2" type="revolute">
    <parent link="r2/left_hip_pitch"/>
    <child link="r2/left_upper_leg"/>
    <origin rpy=" 1.570796 0.0 1.570796" xyz="0.200 -0.050 0.004"/>
    <axis xyz="0 0 1"/>
    <dynamics damping="5.0" friction="0.0"/>
    <limit effort="330.0" lower="-4.71239" upper="4.71239" velocity="1.0"/>
    <traits spring_k="2.5"/>
  </joint>
  <link name="r2/left_upper_leg">
    <inertial>
      <mass value="3.73407"/>
      <inertia ixx="0.05967" ixy="-0.00299" ixz="0.00939" iyy="0.05554" iyz="0.01276" izz="0.01370"/>
    </inertial>
    <visual>
      <geometry>
        <mesh filename="package://r2_description/meshes/r2_legs/r2cl_ext_bone2.dae"/>
      </geometry>
      <origin rpy="0 0 0" xyz="0 0 0"/>
    </visual>
    <collision>
      <geometry>
        <mesh filename="package://r2_description/meshes/r2_legs/r2cl_ext_bone2.dae"/>
      </geometry>
      <origin rpy="0 0 0" xyz="0 0 0"/>
    </collision>
  </link>
  <joint name="r2/left_leg/joint3" type="revolute">
    <parent link="r2/left_upper_leg"/>
    <child link="r2/left_knee"/>
    <origin rpy="0.0 -1.570796 3.14159" xyz="-0.002 -0.050 0.157"/>
    <axis xyz="0 0 1"/>
    <dynamics damping="5.0" friction="0.0"/>
    <limit effort="330.0" lower="-0.0872664" upper="2.6703515" velocity="1.0"/>
    <traits spring_k="2.5"/>
  </joint>
  <link name="r2/left_knee">
    <inertial>
      <mass value="4.78221"/>
      <inertia ixx="0.01671" ixy="0.02240" ixz="-0.00120" iyy="0.07877" iyz="0.00049" izz="0.08739"/>
    </inertial>
    <visual>
      <geometry>
        <mesh filename="package://r2_description/meshes/r2_legs/r2cl_ext_bone1.dae"/>
      </geometry>
      <origin rpy="0 0 0" xyz="0 0 0"/>
    </visual>
    <collision>
      <geometry>
        <mesh filename="package://r2_description/meshes/r2_legs/r2cl_ext_bone1.dae"/>
      </geometry>
      <material name="gold"/>
      <origin rpy="0 0 0" xyz="0 0 0"/>
    </collision>
  </link>
  <joint name="r2/left_leg/joint4" type="revolute">
    <parent link="r2/left_knee"/>
    <child link="r2/left_lower_leg"/>
    <origin rpy="0 1.570796 0" xyz="0.200 -0.050 0.004"/>
    <axis xyz="0 0 1"/>
    <dynamics damping="5.0" friction="0.0"/>
    <limit effort="330.0" lower="-4.71239" upper="4.71239" velocity="1.0"/>
    <traits spring_k="2.5"/>
  </joint>
  <link name="r2/left_lower_leg">
    <inertial>
      <mass value="3.73407"/>
      <inertia ixx="0.05967" ixy="-0.00299" ixz="0.00939" iyy="0.05554" iyz="0.01276" izz="0.01370"/>
    </inertial>
    <visual>
      <geometry>
        <mesh filename="package://r2_description/meshes/r2_legs/r2cl_ext_bone2.dae"/>
      </geometry>
      <origin rpy="0 0 0" xyz="0 0 0"/>
    </visual>
    <collision>
      <geometry>
        <mesh filename="package://r2_description/meshes/r2_legs/r2cl_ext_bone2.dae"/>
      </geometry>
      <origin rpy="0 0 0" xyz="0 0 0"/>
    </collision>
  </link>
  <joint name="r2/left_leg/joint5" type="revolute">
    <parent link="r2/left_lower_leg"/>
    <child link="r2/left_ankle_pitch"/>
    <origin rpy="0.0 -1.570796 3.14159" xyz="-0.002 -0.050 0.157"/>
    <axis xyz="0 0 1"/>
    <dynamics damping="5.0" friction="0.0"/>
    <limit effort="330.0" lower="-0.0872664" upper="2.6703515" velocity="1.0"/>
    <traits spring_k="2.5"/>
  </joint>
  <link name="r2/left_ankle_pitch">
    <inertial>
      <mass value="4.78221"/>
      <inertia ixx="0.01671" ixy="0.02240" ixz="-0.00120" iyy="0.07877" iyz="0.00049" izz="0.08739"/>
    </inertial>
    <visual>
      <geometry>
        <mesh filename="package://r2_description/meshes/r2_legs/r2cl_ext_bone1.dae"/>
      </geometry>
      <origin rpy="0 0 0" xyz="0 0 0"/>
    </visual>
    <collision>
      <geometry>
        <mesh filename="package://r2_description/meshes/r2_legs/r2cl_ext_bone1.dae"/>
      </geometry>
      <origin rpy="0 0 0" xyz="0 0 0"/>
    </collision>
  </link>
  <joint name="r2/left_leg/joint6" type="revolute">
    <parent link="r2/left_ankle_pitch"/>
    <child link="r2/left_ankle_roll"/>
    <origin rpy="3.14159 -1.570796 0" xyz="0.199643 -0.0508 0.00325"/>
    <axis xyz="0 0 1"/>
    <dynamics damping="5.0" friction="0.0"/>
    <limit effort="330.0" lower="-4.71239" upper="4.71239" velocity="1.0"/>
    <traits spring_k="2.5"/>
  </joint>
  <link name="r2/left_ankle_roll">
    <inertial>
      <mass value="1.50471"/>
      <inertia ixx="0.00203" ixy="0.00003" ixz="0.0" iyy="0.00204" iyz="0.0" izz="0.00335"/>
    </inertial>
    <visual>
      <geometry>
        <cylinder length=".06" radius=".066"/>
      </geometry>
      <material name="dirty_white"/>
      <origin rpy="0 0 0" xyz="0 0 0.025"/>
    </visual>
    <collision>
      <geometry>
        <cylinder length=".06" radius=".066"/>
      </geometry>
      <origin rpy="0 0 0" xyz="0 0 0.025"/>
    </collision>
  </link>
  <joint name="r2/fixed/left_ankle_roll/left_leg_foot" type="fixed">
    <parent link="r2/left_ankle_roll"/>
    <child link="r2/left_leg_foot"/>
    <origin rpy="0.0 0 0" xyz="0.0 0.0 0.04953"/>
  </joint>
  <link name="r2/left_leg_foot">
    <inertial>
      <mass value="4.40475"/>
      <inertia ixx="0.04809" ixy="0.00026" ixz="0.00038" iyy="0.04403" iyz="-0.00321" izz="0.0127"/>
    </inertial>
    <visual>
      <geometry>
        <mesh filename="package://r2_description/meshes/r2_legs/r2cl_foot.dae"/>
      </geometry>
      <origin rpy="0 0 0" xyz="0 0 0"/>
    </visual>
    <collision>
      <geometry>
        <mesh filename="package://r2_description/meshes/r2_legs/r2cl_foot.dae"/>
      </geometry>
      <origin rpy="0 0 0" xyz="0 0 0"/>
    </collision>
  </link>
  <joint name="r2/left_leg/gripper/joint0" type="revolute">
    <parent link="r2/left_leg_foot"/>
    <child link="r2/left_leg/gripper/link0"/>
    <origin rpy="0.0 0 0" xyz="0 0 0"/>
    <axis xyz="0 0 1"/>
    <dynamics damping="1.0" friction="0.0"/>
    <limit effort="330.0" lower="-.5" upper=".5" velocity="1.0"/>
  </joint>
  <joint name="r2/left_leg/gripper/joint1" type="revolute">
    <parent link="r2/left_leg_foot"/>
    <child link="r2/left_leg_jaw0"/>
    <origin rpy="0.0 0 0" xyz="0.01905 0 0.17546"/>
    <axis xyz="0 -1 0"/>
    <dynamics damping="1.0" friction="0.0"/>
    <limit effort="330.0" lower="-.5" upper=".5" velocity="1.0"/>
  </joint>
  <joint name="r2/left_leg/gripper/joint2" type="revolute">
    <parent link="r2/left_leg_foot"/>
    <child link="r2/left_leg_jaw1"/>
    <origin rpy="0.0 0 0" xyz="-0.01905 0 0.17546"/>
    <axis xyz="0 1 0"/>
    <dynamics damping="1.0" friction="0.0"/>
    <limit effort="330.0" lower="-.5" upper=".5" velocity="1.0"/>
  </joint>
  <joint name="r2/fixed/left_leg_foot/left_hr_tip" type="fixed">
    <parent link="r2/left_leg_foot"/>
    <child link="r2/left_hr_tip"/>
    <origin rpy="0.0 0 0" xyz="0 0 0.19451"/>
  </joint>
  <joint name="r2/fixed/left_leg_foot/left_st_tip" type="fixed">
    <parent link="r2/left_leg_foot"/>
    <child link="r2/left_st_tip"/>
    <origin rpy="0.0 0 0" xyz="0 0 0.21991"/>
  </joint>
  <joint name="r2/fixed/left_leg_foot/left_leg_camera0_physical" type="fixed">
    <parent link="r2/left_leg_foot"/>
    <child link="r2/left_leg_camera0_physical"/>
    <origin rpy="0 0 0" xyz="-0.025 .07 0.13"/>
  </joint>
  <joint name="r2/fixed/left_leg_foot/left_leg_camera1_physical" type="fixed">
    <parent link="r2/left_leg_foot"/>
    <child link="r2/left_leg_camera1_physical"/>
    <origin rpy="0.0 0 0" xyz="0.025 .07 0.13"/>
  </joint>
  <link name="r2/left_leg/gripper/link0">
    <inertial>
      <mass value="0.01"/>
      <inertia ixx="0.0001" ixy="0.0" ixz="0.0" iyy="0.001" iyz="0.0" izz="0.001"/>
    </inertial>
  </link>
  <link name="r2/left_hr_tip">
    <inertial>
      <mass value="0.01"/>
      <inertia ixx="0.0001" ixy="0.0" ixz="0.0" iyy="0.001" iyz="0.0" izz="0.001"/>
    </inertial>
  </link>
  <link name="r2/left_st_tip">
    <inertial>
      <mass value="0.01"/>
      <inertia ixx="0.0001" ixy="0.0" ixz="0.0" iyy="0.001" iyz="0.0" izz="0.001"/>
    </inertial>
  </link>
  <link name="r2/left_leg_jaw0">
    <inertial>
      <mass value="0.16268"/>
      <inertia ixx="0.001" ixy="0.0" ixz="0.0" iyy="0.001" iyz="0.0" izz="0.001"/>
    </inertial>
    <visual>
      <geometry>
        <mesh filename="package://r2_description/meshes/r2_legs/r2cl_foot_jaw1.dae"/>
      </geometry>
      <origin rpy="0 0 0" xyz="0 0 0"/>
    </visual>
    <collision>
      <geometry>
        <mesh filename="package://r2_description/meshes/r2_legs/r2cl_foot_jaw1.dae"/>
      </geometry>
      <origin rpy="0 0 0" xyz="0 0 0"/>
    </collision>
  </link>
  <link name="r2/left_leg_jaw1">
    <inertial>
      <mass value="0.16268"/>
      <inertia ixx="0.001" ixy="0.0" ixz="0.0" iyy="0.001" iyz="0.0" izz="0.001"/>
    </inertial>
    <visual>
      <geometry>
        <mesh filename="package://r2_description/meshes/r2_legs/r2cl_foot_jaw2.dae"/>
      </geometry>
      <origin rpy="0 0 0" xyz="0 0 0"/>
    </visual>
    <collision>
      <geometry>
        <mesh filename="package://r2_description/meshes/r2_legs/r2cl_foot_jaw2.dae"/>
      </geometry>
      <origin rpy="0 0 0" xyz="0 0 0"/>
    </collision>
  </link>
  <link name="r2/left_leg_camera0_physical">
    <inertial>
      <mass value="0.01"/>
      <inertia ixx="0.0001" ixy="0.0" ixz="0.0" iyy="0.001" iyz="0.0" izz="0.001"/>
    </inertial>
  </link>
  <joint name="r2/fixed/left_leg_camera0_physical/left_leg_camera0_optical" type="fixed">
    <parent link="r2/left_leg_camera0_physical"/>
    <child link="r2/left_leg_camera0_optical"/>
    <origin rpy="0 -1.57 -1.57" xyz="0 0 .03"/>
  </joint>
  <link name="r2/left_leg_camera0_optical">
    <inertial>
      <mass value="0.01"/>
      <inertia ixx="0.0001" ixy="0.0" ixz="0.0" iyy="0.001" iyz="0.0" izz="0.001"/>
    </inertial>
  </link>
  <link name="r2/left_leg_camera1_physical">
    <inertial>
      <mass value="0.01"/>
      <inertia ixx="0.0001" ixy="0.0" ixz="0.0" iyy="0.001" iyz="0.0" izz="0.001"/>
    </inertial>
  </link>
  <joint name="r2/fixed/left_leg_camera1_physical/left_leg_camera1_optical" type="fixed">
    <parent link="r2/left_leg_camera1_physical"/>
    <child link="r2/left_leg_camera1_optical"/>
    <origin rpy="0 -1.57 -1.57" xyz="0 0 0.03"/>
  </joint>
  <link name="r2/left_leg_camera1_optical">
    <inertial>
      <mass value="0.01"/>
      <inertia ixx="0.0001" ixy="0.0" ixz="0.0" iyy="0.001" iyz="0.0" izz="0.001"/>
    </inertial>
  </link>
  <joint name="r2/fixed/pelvis/right_leg_base" type="fixed">
    <parent link="r2/pelvis"/>
    <child link="r2/right_leg_base"/>
    <origin rpy="0 0.000000 1.570796" xyz="0.0 0 0.0"/>
  </joint>
  <link name="r2/right_leg_base">
    <inertial>
      <mass value="3.2"/>
      <inertia ixx="1.0" ixy="0.0" ixz="0.0" iyy="1.0" iyz="0.0" izz="1.0"/>
    </inertial>
    <visual>
      <geometry>
        <cylinder length=".11" radius=".05"/>
      </geometry>
      <origin rpy="0 1.82 0" xyz="0.055 0.0 -.015 "/>
    </visual>
    <collision>
      <geometry>
        <cylinder length=".11" radius=".05"/>
      </geometry>
      <origin rpy="0 1.82 0" xyz="0.055 0.0 -.015 "/>
    </collision>
  </link>
  <joint name="r2/fixed/right_leg_base/right_leg_j0_base" type="fixed">
    <parent link="r2/right_leg_base"/>
    <child link="r2/right_leg_j0_base"/>
    <origin rpy="0.0 1.8325957 0" xyz="0.1104900 0.0 -0.0297180"/>
  </joint>
  <link name="r2/right_leg_j0_base">
    <inertial>
      <mass value="0.01"/>
      <inertia ixx="0.0001" ixy="0.0" ixz="0.0" iyy="0.001" iyz="0.0" izz="0.001"/>
    </inertial>
  </link>
  <joint name="r2/right_leg/joint0" type="revolute">
    <parent link="r2/right_leg_j0_base"/>
    <child link="r2/right_hip_roll"/>
    <origin rpy=" 0.000000 0 0.000000" xyz="0 0 0"/>
    <axis xyz="0 0 1"/>
    <dynamics damping="10.0" friction="0.0"/>
    <limit effort="330.0" lower="-4.71239" upper="4.71239" velocity="1.0"/>
    <traits spring_k="2.5"/>
  </joint>
  <link name="r2/right_hip_roll">
    <inertial>
      <mass value="2.33931"/>
      <inertia ixx="0.02547" ixy="0.00297" ixz="-0.00847" iyy="0.02956" iyz="0.00636" izz="0.01148"/>
    </inertial>
    <visual>
      <geometry>
        <mesh filename="package://r2_description/meshes/r2_legs/r2cl_ext_bone3.dae"/>
      </geometry>
      <origin rpy="0 0 0" xyz="0.0 0.0 0.0"/>
    </visual>
    <collision>
      <geometry>
        <mesh filename="package://r2_description/meshes/r2_legs/r2cl_ext_bone3.dae"/>
      </geometry>
      <origin rpy="0 0 0" xyz="0.0 0.0 0.0"/>
    </collision>
  </link>
  <joint name="r2/right_leg/joint1" type="revolute">
    <parent link="r2/right_hip_roll"/>
    <child link="r2/right_hip_pitch"/>
    <origin rpy="-1.570796  -0.2617994 0.0000000" xyz="0.050629765 -0.0022860 0.103498576"/>
    <axis xyz="0 0 1"/>
    <dynamics damping="5.0" friction="0.0"/>
    <limit effort="330.0" lower="-1.483" upper="1.27" velocity="1.0"/>
    <traits spring_k="2.5"/>
  </joint>
  <link name="r2/right_hip_pitch">
    <inertial>
      <mass value="4.78221"/>
      <inertia ixx="0.01671" ixy="0.02240" ixz="-0.00120" iyy="0.07877" iyz="0.00049" izz="0.08739"/>
    </inertial>
    <visual>
      <geometry>
        <mesh filename="package://r2_description/meshes/r2_legs/r2cl_ext_bone1.dae"/>
      </geometry>
      <origin rpy="0 0 0" xyz="0 0 0"/>
    </visual>
    <collision>
      <geometry>
        <mesh filename="package://r2_description/meshes/r2_legs/r2cl_ext_bone1.dae"/>
      </geometry>
      <origin rpy="0 0 0" xyz="0 0 0"/>
    </collision>
  </link>
  <joint name="r2/right_leg/joint2" type="revolute">
    <parent link="r2/right_hip_pitch"/>
    <child link="r2/right_upper_leg"/>
    <origin rpy="-1.570796 0.0 -1.570796" xyz="0.200 -0.050 0.004"/>
    <axis xyz="0 0 1"/>
    <dynamics damping="5.0" friction="0.0"/>
    <limit effort="330.0" lower="-4.71239" upper="4.71239" velocity="1.0"/>
    <traits spring_k="2.5"/>
  </joint>
  <link name="r2/right_upper_leg">
    <inertial>
      <mass value="3.73407"/>
      <inertia ixx="0.05967" ixy="-0.00299" ixz="0.00939" iyy="0.05554" iyz="0.01276" izz="0.01370"/>
    </inertial>
    <visual>
      <geometry>
        <mesh filename="package://r2_description/meshes/r2_legs/r2cl_ext_bone2.dae"/>
      </geometry>
      <origin rpy="0 0 0" xyz="0 0 0"/>
    </visual>
    <collision>
      <geometry>
        <mesh filename="package://r2_description/meshes/r2_legs/r2cl_ext_bone2.dae"/>
      </geometry>
      <origin rpy="0 0 0" xyz="0 0 0.0"/>
    </collision>
  </link>
  <joint name="r2/right_leg/joint3" type="revolute">
    <parent link="r2/right_upper_leg"/>
    <child link="r2/right_knee"/>
    <origin rpy="0.0 -1.570796 3.14159" xyz="-0.00200 -0.050  0.157"/>
    <axis xyz="0 0 1"/>
    <dynamics damping="5.0" friction="0.0"/>
    <limit effort="330.0" lower="-0.0872664" upper="2.6703515" velocity="1.0"/>
    <traits spring_k="2.5"/>
  </joint>
  <link name="r2/right_knee">
    <inertial>
      <mass value="4.78221"/>
      <inertia ixx="0.01671" ixy="0.02240" ixz="-0.00120" iyy="0.07877" iyz="0.00049" izz="0.08739"/>
    </inertial>
    <visual>
      <geometry>
        <mesh filename="package://r2_description/meshes/r2_legs/r2cl_ext_bone1.dae"/>
      </geometry>
      <origin rpy="0 0 0" xyz="0 0 0"/>
    </visual>
    <collision>
      <geometry>
        <mesh filename="package://r2_description/meshes/r2_legs/r2cl_ext_bone1.dae"/>
      </geometry>
      <material name="gold"/>
      <origin rpy="0 0 0" xyz="0 0 0"/>
    </collision>
  </link>
  <joint name="r2/right_leg/joint4" type="revolute">
    <parent link="r2/right_knee"/>
    <child link="r2/right_lower_leg"/>
    <origin rpy="0 1.570796 0" xyz="0.200 -0.050 0.004"/>
    <axis xyz="0 0 1"/>
    <dynamics damping="5.0" friction="0.0"/>
    <limit effort="330.0" lower="-4.71239" upper="4.71239" velocity="1.0"/>
    <traits spring_k="2.5"/>
  </joint>
  <link name="r2/right_lower_leg">
    <inertial>
      <mass value="3.73407"/>
      <inertia ixx="0.05967" ixy="-0.00299" ixz="0.00939" iyy="0.05554" iyz="0.01276" izz="0.01370"/>
    </inertial>
    <visual>
      <geometry>
        <mesh filename="package://r2_description/meshes/r2_legs/r2cl_ext_bone2.dae"/>
      </geometry>
      <origin rpy="0 0 0" xyz="0 0 0"/>
    </visual>
    <collision>
      <geometry>
        <mesh filename="package://r2_description/meshes/r2_legs/r2cl_ext_bone2.dae"/>
      </geometry>
      <origin rpy="0 0 0" xyz="0 0 0.0"/>
    </collision>
  </link>
  <joint name="r2/right_leg/joint5" type="revolute">
    <parent link="r2/right_lower_leg"/>
    <child link="r2/right_ankle_pitch"/>
    <origin rpy="0.0 -1.570796 3.14159" xyz="-0.002 -0.050 0.157"/>
    <axis xyz="0 0 1"/>
    <dynamics damping="5.0" friction="0.0"/>
    <limit effort="330.0" lower="-0.0872664" upper="2.6703515" velocity="1.0"/>
    <traits spring_k="2.5"/>
  </joint>
  <link name="r2/right_ankle_pitch">
    <inertial>
      <mass value="4.78221"/>
      <inertia ixx="0.01671" ixy="0.02240" ixz="-0.00120" iyy="0.07877" iyz="0.00049" izz="0.08739"/>
    </inertial>
    <visual>
      <geometry>
        <mesh filename="package://r2_description/meshes/r2_legs/r2cl_ext_bone1.dae"/>
      </geometry>
      <origin rpy="0 0 0" xyz="0 0 0"/>
    </visual>
    <collision>
      <geometry>
        <mesh filename="package://r2_description/meshes/r2_legs/r2cl_ext_bone1.dae"/>
      </geometry>
      <origin rpy="0 0 0" xyz="0 0 0"/>
    </collision>
  </link>
  <joint name="r2/right_leg/joint6" type="revolute">
    <parent link="r2/right_ankle_pitch"/>
    <child link="r2/right_ankle_roll"/>
    <origin rpy="3.14159 -1.570796 0 " xyz="0.199643 -0.0508 0.00325"/>
    <axis xyz="0 0 1"/>
    <dynamics damping="5.0" friction="0.0"/>
    <limit effort="330.0" lower="-4.71239" upper="4.71239" velocity="1.0"/>
    <traits spring_k="2.5"/>
  </joint>
  <link name="r2/right_ankle_roll">
    <inertial>
      <mass value="1.50471"/>
      <inertia ixx="0.00203" ixy="0.00003" ixz="0.0" iyy="0.00204" iyz="0.0" izz="0.00335"/>
    </inertial>
    <visual>
      <geometry>
        <cylinder length=".06" radius=".066"/>
      </geometry>
      <material name="dirty_white"/>
      <origin rpy="0 0 0" xyz="0 0 0.025"/>
    </visual>
    <collision>
      <geometry>
        <cylinder length=".06" radius=".066"/>
      </geometry>
      <material name="gold"/>
      <origin rpy="0 0 0" xyz="0 0 0.025"/>
    </collision>
  </link>
  <joint name="r2/fixed/right_ankle_roll/right_leg_foot" type="fixed">
    <parent link="r2/right_ankle_roll"/>
    <child link="r2/right_leg_foot"/>
    <origin rpy="0.0 0 0" xyz="0.0 0.0 0.04953"/>
  </joint>
  <link name="r2/right_leg_foot">
    <inertial>
      <mass value="4.40475"/>
      <inertia ixx="0.04809" ixy="0.00026" ixz="0.00038" iyy="0.04403" iyz="-0.00321" izz="0.0127"/>
    </inertial>
    <visual>
      <geometry>
        <mesh filename="package://r2_description/meshes/r2_legs/r2cl_foot.dae"/>
      </geometry>
      <material name="gold"/>
      <origin rpy="0 0 0" xyz="0 0 0"/>
    </visual>
    <collision>
      <geometry>
        <mesh filename="package://r2_description/meshes/r2_legs/r2cl_foot.dae"/>
      </geometry>
      <origin rpy="0 0 0" xyz="0 0 0"/>
    </collision>
  </link>
  <joint name="r2/right_leg/gripper/joint0" type="prismatic">
    <parent link="r2/right_leg_foot"/>
    <child link="r2/right_leg/gripper/link0"/>
    <origin rpy="0.0 0 0" xyz="0 0 0"/>
    <axis xyz="0 0 1"/>
    <dynamics damping="1.0" friction="0.0"/>
    <limit effort="330.0" lower="-.5" upper=".5" velocity="1.0"/>
  </joint>
  <joint name="r2/right_leg/gripper/joint1" type="revolute">
    <parent link="r2/right_leg_foot"/>
    <child link="r2/right_leg_jaw0"/>
    <origin rpy="0.0 0 0" xyz="0.01905 0 0.17546"/>
    <axis xyz="0 -1 0"/>
    <dynamics damping="1.0" friction="0.0"/>
    <limit effort="330.0" lower="-.5" upper=".5" velocity="1.0"/>
    <traits spring_k="2.5"/>
  </joint>
  <joint name="r2/right_leg/gripper/joint2" type="revolute">
    <parent link="r2/right_leg_foot"/>
    <child link="r2/right_leg_jaw1"/>
    <origin rpy="0.0 0 0" xyz="-0.01905 0 0.17546"/>
    <axis xyz="0 1 0"/>
    <dynamics damping="1.0" friction="0.0"/>
    <limit effort="330.0" lower="-.5" upper=".5" velocity="1.0"/>
    <traits spring_k="2.5"/>
  </joint>
  <joint name="r2/fixed/right_leg_foot/right_hr_tip" type="fixed">
    <parent link="r2/right_leg_foot"/>
    <child link="r2/right_hr_tip"/>
    <origin rpy="0.0 0 0" xyz="0 0 0.19451"/>
  </joint>
  <joint name="r2/fixed/right_leg_foot/right_st_tip" type="fixed">
    <parent link="r2/right_leg_foot"/>
    <child link="r2/right_st_tip"/>
    <origin rpy="0.0 0 0" xyz="0 0 0.21991"/>
  </joint>
  <joint name="r2/fixed/right_leg_foot/right_leg_camera0_physical" type="fixed">
    <parent link="r2/right_leg_foot"/>
    <child link="r2/right_leg_camera0_physical"/>
    <origin rpy="0.0 0  0" xyz="-0.025 .07 0.13"/>
  </joint>
  <joint name="r2/fixed/right_leg_foot/right_leg_camera1_physical" type="fixed">
    <parent link="r2/right_leg_foot"/>
    <child link="r2/right_leg_camera1_physical"/>
    <origin rpy="0.0 0  0" xyz="0.025 .07 0.13"/>
  </joint>
  <link name="r2/right_leg/gripper/link0">
    <inertial>
      <mass value="0.01"/>
      <inertia ixx="0.0001" ixy="0.0" ixz="0.0" iyy="0.001" iyz="0.0" izz="0.001"/>
    </inertial>
  </link>
  <link name="r2/right_hr_tip">
    <inertial>
      <mass value="0.01"/>
      <inertia ixx="0.0001" ixy="0.0" ixz="0.0" iyy="0.001" iyz="0.0" izz="0.001"/>
    </inertial>
  </link>
  <link name="r2/right_st_tip">
    <inertial>
      <mass value="0.01"/>
      <inertia ixx="0.0001" ixy="0.0" ixz="0.0" iyy="0.001" iyz="0.0" izz="0.001"/>
    </inertial>
  </link>
  <link name="r2/right_leg_jaw0">
    <inertial>
      <mass value="0.16268"/>
      <inertia ixx="0.001" ixy="0.0" ixz="0.0" iyy="0.001" iyz="0.0" izz="0.001"/>
    </inertial>
    <visual>
      <geometry>
        <mesh filename="package://r2_description/meshes/r2_legs/r2cl_foot_jaw1.dae"/>
      </geometry>
      <origin rpy="0 0 0" xyz="0 0 0"/>
    </visual>
    <collision>
      <geometry>
        <mesh filename="package://r2_description/meshes/r2_legs/r2cl_foot_jaw1.dae"/>
      </geometry>
      <origin rpy="0 0 0" xyz="0 0 0"/>
    </collision>
  </link>
  <link name="r2/right_leg_jaw1">
    <inertial>
      <mass value="0.16268"/>
      <inertia ixx="0.001" ixy="0.0" ixz="0.0" iyy="0.001" iyz="0.0" izz="0.001"/>
    </inertial>
    <visual>
      <geometry>
        <mesh filename="package://r2_description/meshes/r2_legs/r2cl_foot_jaw2.dae"/>
      </geometry>
      <origin rpy="0 0 0" xyz="0 0 0"/>
    </visual>
    <collision>
      <geometry>
        <mesh filename="package://r2_description/meshes/r2_legs/r2cl_foot_jaw2.dae"/>
      </geometry>
      <origin rpy="0 0 0" xyz="0 0 0"/>
    </collision>
  </link>
  <link name="r2/right_leg_camera0_physical">
    <inertial>
      <mass value="0.01"/>
      <inertia ixx="0.0001" ixy="0.0" ixz="0.0" iyy="0.001" iyz="0.0" izz="0.001"/>
    </inertial>
  </link>
  <joint name="r2/fixed/right_leg_camera0_physical/right_leg_camera0_optical" type="fixed">
    <parent link="r2/right_leg_camera0_physical"/>
    <child link="r2/right_leg_camera0_optical"/>
    <origin rpy="0 -1.57 -1.57" xyz="0 0 0.03"/>
  </joint>
  <link name="r2/right_leg_camera0_optical">
    <inertial>
      <mass value="0.01"/>
      <inertia ixx="0.0001" ixy="0.0" ixz="0.0" iyy="0.001" iyz="0.0" izz="0.001"/>
    </inertial>
  </link>
  <link name="r2/right_leg_camera1_physical">
    <inertial>
      <mass value="0.01"/>
      <inertia ixx="0.0001" ixy="0.0" ixz="0.0" iyy="0.001" iyz="0.0" izz="0.001"/>
    </inertial>
  </link>
  <joint name="r2/fixed/right_leg_camera1_physical/right_leg_camera1_optical" type="fixed">
    <parent link="r2/right_leg_camera1_physical"/>
    <child link="r2/right_leg_camera1_optical"/>
    <origin rpy="0 -1.57 -1.57" xyz="0 0 .03"/>
  </joint>
  <link name="r2/right_leg_camera1_optical">
    <inertial>
      <mass value="0.01"/>
      <inertia ixx="0.0001" ixy="0.0" ixz="0.0" iyy="0.001" iyz="0.0" izz="0.001"/>
    </inertial>
  </link>
  <gazebo reference="r2/waist_center">
    <selfCollide>false</selfCollide>
    <static>false</static>
    <turnGravityOff>false</turnGravityOff>
  </gazebo>
  <gazebo reference="r2/waist/joint0">
    <stopKd value="0.0"/>
    <stopKp value="1000.0"/>
  </gazebo>
  <gazebo reference="r2/left_shoulder_roll">
    <selfCollide>false</selfCollide>
    <static>false</static>
    <turnGravityOff>false</turnGravityOff>
  </gazebo>
  <gazebo reference="r2/left_shoulder_pitch">
    <selfCollide>false</selfCollide>
    <static>false</static>
    <turnGravityOff>false</turnGravityOff>
  </gazebo>
  <gazebo reference="r2/left_upper_arm">
    <selfCollide>false</selfCollide>
    <static>false</static>
    <turnGravityOff>false</turnGravityOff>
  </gazebo>
  <gazebo reference="r2/left_elbow">
    <selfCollide>false</selfCollide>
    <static>false</static>
    <turnGravityOff>false</turnGravityOff>
  </gazebo>
  <gazebo reference="r2/left_lower_arm">
    <selfCollide>false</selfCollide>
    <static>false</static>
    <turnGravityOff>false</turnGravityOff>
  </gazebo>
  <gazebo reference="r2/left_wrist_pitch">
    <selfCollide>false</selfCollide>
    <static>false</static>
    <turnGravityOff>false</turnGravityOff>
  </gazebo>
  <gazebo reference="r2/left_wrist_yaw">
    <selfCollide>false</selfCollide>
    <static>false</static>
    <turnGravityOff>false</turnGravityOff>
  </gazebo>
  <gazebo reference="r2/left_palm">
    <selfCollide>false</selfCollide>
    <static>false</static>
    <turnGravityOff>false</turnGravityOff>
  </gazebo>
  <gazebo reference="r2/left_arm/joint0">
    <stopKd value="0.0"/>
    <stopKp value="1000.0"/>
  </gazebo>
  <gazebo reference="r2/left_arm/joint1">
    <stopKd value="0.0"/>
    <stopKp value="1000.0"/>
  </gazebo>
  <gazebo reference="r2/left_arm/joint2">
    <stopKd value="0.0"/>
    <stopKp value="1000.0"/>
  </gazebo>
  <gazebo reference="r2/left_arm/joint3">
    <stopKd value="0.0"/>
    <stopKp value="1000.0"/>
  </gazebo>
  <gazebo reference="r2/left_arm/joint4">
    <stopKd value="0.0"/>
    <stopKp value="1000.0"/>
  </gazebo>
  <gazebo reference="r2/left_arm/joint5">
    <stopKd value="0.0"/>
    <stopKp value="1000.0"/>
  </gazebo>
  <gazebo reference="r2/left_arm/joint6">
    <stopKd value="0.0"/>
    <stopKp value="1000.0"/>
  </gazebo>
  <gazebo reference="r2/left_thumb_base">
    <selfCollide>false</selfCollide>
    <static>false</static>
    <turnGravityOff>false</turnGravityOff>
  </gazebo>
  <gazebo reference="r2/left_thumb_medial_prime">
    <selfCollide>false</selfCollide>
    <static>false</static>
    <turnGravityOff>false</turnGravityOff>
  </gazebo>
  <gazebo reference="r2/left_thumb_medial">
    <selfCollide>false</selfCollide>
    <static>false</static>
    <turnGravityOff>false</turnGravityOff>
  </gazebo>
  <gazebo reference="r2/left_thumb_distal">
    <selfCollide>false</selfCollide>
    <static>false</static>
    <turnGravityOff>false</turnGravityOff>
  </gazebo>
  <gazebo reference="r2/left_index_base">
    <selfCollide>false</selfCollide>
    <static>false</static>
    <turnGravityOff>false</turnGravityOff>
  </gazebo>
  <gazebo reference="r2/left_index_proximal">
    <selfCollide>false</selfCollide>
    <static>false</static>
    <turnGravityOff>false</turnGravityOff>
  </gazebo>
  <gazebo reference="r2/left_index_medial">
    <selfCollide>false</selfCollide>
    <static>false</static>
    <turnGravityOff>false</turnGravityOff>
  </gazebo>
  <gazebo reference="r2/left_index_distal">
    <selfCollide>false</selfCollide>
    <static>false</static>
    <turnGravityOff>false</turnGravityOff>
  </gazebo>
  <gazebo reference="r2/left_middle_base">
    <selfCollide>false</selfCollide>
    <static>false</static>
    <turnGravityOff>false</turnGravityOff>
  </gazebo>
  <gazebo reference="r2/left_middle_proximal">
    <selfCollide>false</selfCollide>
    <static>false</static>
    <turnGravityOff>false</turnGravityOff>
  </gazebo>
  <gazebo reference="r2/left_middle_medial">
    <selfCollide>false</selfCollide>
    <static>false</static>
    <turnGravityOff>false</turnGravityOff>
  </gazebo>
  <gazebo reference="r2/left_middle_distal">
    <selfCollide>false</selfCollide>
    <static>false</static>
    <turnGravityOff>false</turnGravityOff>
  </gazebo>
  <gazebo reference="r2/left_ring_proximal">
    <selfCollide>false</selfCollide>
    <static>false</static>
    <turnGravityOff>false</turnGravityOff>
  </gazebo>
  <gazebo reference="r2/left_ring_medial">
    <selfCollide>false</selfCollide>
    <static>false</static>
    <turnGravityOff>false</turnGravityOff>
  </gazebo>
  <gazebo reference="r2/left_ring_distal">
    <selfCollide>false</selfCollide>
    <static>false</static>
    <turnGravityOff>false</turnGravityOff>
  </gazebo>
  <gazebo reference="r2/left_little_proximal">
    <selfCollide>false</selfCollide>
    <static>false</static>
    <turnGravityOff>false</turnGravityOff>
  </gazebo>
  <gazebo reference="r2/left_little_medial">
    <selfCollide>false</selfCollide>
    <static>false</static>
    <turnGravityOff>false</turnGravityOff>
  </gazebo>
  <gazebo reference="r2/left_little_distal">
    <selfCollide>false</selfCollide>
    <static>false</static>
    <turnGravityOff>false</turnGravityOff>
  </gazebo>
  <gazebo reference="r2/right_shoulder_roll">
    <selfCollide>false</selfCollide>
    <static>false</static>
    <turnGravityOff>false</turnGravityOff>
  </gazebo>
  <gazebo reference="r2/right_shoulder_pitch">
    <selfCollide>false</selfCollide>
    <static>false</static>
    <turnGravityOff>false</turnGravityOff>
  </gazebo>
  <gazebo reference="r2/right_upper_arm">
    <selfCollide>false</selfCollide>
    <static>false</static>
    <turnGravityOff>false</turnGravityOff>
  </gazebo>
  <gazebo reference="r2/right_elbow">
    <selfCollide>false</selfCollide>
    <static>false</static>
    <turnGravityOff>false</turnGravityOff>
  </gazebo>
  <gazebo reference="r2/right_lower_arm">
    <selfCollide>false</selfCollide>
    <static>false</static>
    <turnGravityOff>false</turnGravityOff>
  </gazebo>
  <gazebo reference="r2/right_wrist_pitch">
    <selfCollide>false</selfCollide>
    <static>false</static>
    <turnGravityOff>false</turnGravityOff>
  </gazebo>
  <gazebo reference="r2/right_wrist_yaw">
    <selfCollide>false</selfCollide>
    <static>false</static>
    <turnGravityOff>false</turnGravityOff>
  </gazebo>
  <gazebo reference="r2/right_palm">
    <selfCollide>false</selfCollide>
    <static>false</static>
    <turnGravityOff>false</turnGravityOff>
  </gazebo>
  <gazebo reference="r2/right_arm/joint0">
    <stopKd value="0.0"/>
    <stopKp value="1000.0"/>
  </gazebo>
  <gazebo reference="r2/right_arm/joint1">
    <stopKd value="0.0"/>
    <stopKp value="1000.0"/>
  </gazebo>
  <gazebo reference="r2/right_arm/joint2">
    <stopKd value="0.0"/>
    <stopKp value="1000.0"/>
  </gazebo>
  <gazebo reference="r2/right_arm/joint3">
    <stopKd value="0.0"/>
    <stopKp value="1000.0"/>
  </gazebo>
  <gazebo reference="r2/right_arm/joint4">
    <stopKd value="0.0"/>
    <stopKp value="1000.0"/>
  </gazebo>
  <gazebo reference="r2/right_arm/joint5">
    <stopKd value="0.0"/>
    <stopKp value="1000.0"/>
  </gazebo>
  <gazebo reference="r2/right_arm/joint6">
    <stopKd value="0.0"/>
    <stopKp value="1000.0"/>
  </gazebo>
  <gazebo reference="r2/right_thumb_base">
    <selfCollide>false</selfCollide>
    <static>false</static>
    <turnGravityOff>false</turnGravityOff>
  </gazebo>
  <gazebo reference="r2/right_thumb_medial_prime">
    <selfCollide>false</selfCollide>
    <static>false</static>
    <turnGravityOff>false</turnGravityOff>
  </gazebo>
  <gazebo reference="r2/right_thumb_medial">
    <selfCollide>false</selfCollide>
    <static>false</static>
    <turnGravityOff>false</turnGravityOff>
  </gazebo>
  <gazebo reference="r2/right_thumb_distal">
    <selfCollide>false</selfCollide>
    <static>false</static>
    <turnGravityOff>false</turnGravityOff>
  </gazebo>
  <gazebo reference="r2/right_index_base">
    <selfCollide>false</selfCollide>
    <static>false</static>
    <turnGravityOff>false</turnGravityOff>
  </gazebo>
  <gazebo reference="r2/right_index_proximal">
    <selfCollide>false</selfCollide>
    <static>false</static>
    <turnGravityOff>false</turnGravityOff>
  </gazebo>
  <gazebo reference="r2/right_index_medial">
    <selfCollide>false</selfCollide>
    <static>false</static>
    <turnGravityOff>false</turnGravityOff>
  </gazebo>
  <gazebo reference="r2/right_index_distal">
    <selfCollide>false</selfCollide>
    <static>false</static>
    <turnGravityOff>false</turnGravityOff>
  </gazebo>
  <gazebo reference="r2/right_middle_base">
    <selfCollide>false</selfCollide>
    <static>false</static>
    <turnGravityOff>false</turnGravityOff>
  </gazebo>
  <gazebo reference="r2/right_middle_proximal">
    <selfCollide>false</selfCollide>
    <static>false</static>
    <turnGravityOff>false</turnGravityOff>
  </gazebo>
  <gazebo reference="r2/right_middle_medial">
    <selfCollide>false</selfCollide>
    <static>false</static>
    <turnGravityOff>false</turnGravityOff>
  </gazebo>
  <gazebo reference="r2/right_middle_distal">
    <selfCollide>false</selfCollide>
    <static>false</static>
    <turnGravityOff>false</turnGravityOff>
  </gazebo>
  <gazebo reference="r2/right_ring_proximal">
    <selfCollide>false</selfCollide>
    <static>false</static>
    <turnGravityOff>false</turnGravityOff>
  </gazebo>
  <gazebo reference="r2/right_ring_medial">
    <selfCollide>false</selfCollide>
    <static>false</static>
    <turnGravityOff>false</turnGravityOff>
  </gazebo>
  <gazebo reference="r2/right_ring_distal">
    <selfCollide>false</selfCollide>
    <static>false</static>
    <turnGravityOff>false</turnGravityOff>
  </gazebo>
  <gazebo reference="r2/right_little_proximal">
    <selfCollide>false</selfCollide>
    <static>false</static>
    <turnGravityOff>false</turnGravityOff>
  </gazebo>
  <gazebo reference="r2/right_little_medial">
    <selfCollide>false</selfCollide>
    <static>false</static>
    <turnGravityOff>false</turnGravityOff>
  </gazebo>
  <gazebo reference="r2/right_little_distal">
    <selfCollide>false</selfCollide>
    <static>false</static>
    <turnGravityOff>false</turnGravityOff>
  </gazebo>
  <gazebo reference="r2/neck_base">
    <selfCollide>false</selfCollide>
    <static>false</static>
    <turnGravityOff>false</turnGravityOff>
  </gazebo>
  <gazebo reference="r2/neck/joint0">
    <stopKd value="0.0"/>
    <stopKp value="1000.0"/>
  </gazebo>
  <gazebo reference="r2/neck_lower_pitch">
    <selfCollide>false</selfCollide>
    <static>false</static>
    <turnGravityOff>false</turnGravityOff>
  </gazebo>
  <gazebo reference="r2/neck/joint1">
    <stopKd value="0.0"/>
    <stopKp value="1000.0"/>
  </gazebo>
  <gazebo reference="r2/neck_roll">
    <selfCollide>false</selfCollide>
    <static>false</static>
    <turnGravityOff>false</turnGravityOff>
  </gazebo>
  <gazebo reference="r2/neck/joint2">
    <stopKd value="0.0"/>
    <stopKp value="1000.0"/>
  </gazebo>
  <!--   <xacro:include filename="$(find r2_gazebo)/urdf/sensors/r2.gazebo.sensors.xacro" />
 -->
  <gazebo reference="r2/pelvis">
    <selfCollide>false</selfCollide>
    <static>false</static>
    <turnGravityOff>false</turnGravityOff>
    <material></material>
  </gazebo>
  <gazebo reference="r2/left_leg">
    <selfCollide>false</selfCollide>
    <static>false</static>
    <turnGravityOff>false</turnGravityOff>
    <material></material>
  </gazebo>
  <gazebo reference="r2/left_hip_roll">
    <selfCollide>false</selfCollide>
    <static>false</static>
    <turnGravityOff>false</turnGravityOff>
    <material></material>
  </gazebo>
  <gazebo reference="r2/left_hip_pitch">
    <selfCollide>false</selfCollide>
    <static>false</static>
    <turnGravityOff>false</turnGravityOff>
    <material></material>
  </gazebo>
  <gazebo reference="r2/left_upper_leg">
    <selfCollide>false</selfCollide>
    <static>false</static>
    <turnGravityOff>false</turnGravityOff>
    <material></material>
  </gazebo>
  <gazebo reference="r2/left_knee">
    <selfCollide>false</selfCollide>
    <static>false</static>
    <turnGravityOff>false</turnGravityOff>
    <material></material>
  </gazebo>
  <gazebo reference="r2/left_lower_leg">
    <selfCollide>false</selfCollide>
    <static>false</static>
    <turnGravityOff>false</turnGravityOff>
    <material></material>
  </gazebo>
  <gazebo reference="r2/left_ankle_pitch">
    <selfCollide>false</selfCollide>
    <static>false</static>
    <turnGravityOff>false</turnGravityOff>
    <material></material>
  </gazebo>
  <gazebo reference="r2/left_ankle_roll">
    <selfCollide>false</selfCollide>
    <static>false</static>
    <turnGravityOff>false</turnGravityOff>
    <material>Gazebo/DirtyWhite</material>
  </gazebo>
  <gazebo reference="r2/left_leg_foot">
    <selfCollide>false</selfCollide>
    <static>false</static>
    <turnGravityOff>false</turnGravityOff>
    <material></material>
  </gazebo>
  <gazebo reference="r2/left_leg/gripper/link0">
    <selfCollide>false</selfCollide>
    <static>false</static>
    <turnGravityOff>false</turnGravityOff>
    <material></material>
  </gazebo>
  <gazebo reference="r2/left_leg_jaw1">
    <selfCollide>false</selfCollide>
    <static>false</static>
    <turnGravityOff>false</turnGravityOff>
    <material></material>
  </gazebo>
  <gazebo reference="r2/left_leg_jaw2">
    <selfCollide>false</selfCollide>
    <static>false</static>
    <turnGravityOff>false</turnGravityOff>
    <material></material>
  </gazebo>
  <gazebo reference="r2/right_hip_roll">
    <selfCollide>false</selfCollide>
    <static>false</static>
    <turnGravityOff>false</turnGravityOff>
    <material></material>
  </gazebo>
  <gazebo reference="r2/right_hip_pitch">
    <selfCollide>false</selfCollide>
    <static>false</static>
    <turnGravityOff>false</turnGravityOff>
    <material></material>
  </gazebo>
  <gazebo reference="r2/right_upper_leg">
    <selfCollide>false</selfCollide>
    <static>false</static>
    <turnGravityOff>false</turnGravityOff>
    <material></material>
  </gazebo>
  <gazebo reference="r2/right_knee">
    <selfCollide>false</selfCollide>
    <static>false</static>
    <turnGravityOff>false</turnGravityOff>
    <material></material>
  </gazebo>
  <gazebo reference="r2/right_lower_leg">
    <selfCollide>false</selfCollide>
    <static>false</static>
    <turnGravityOff>false</turnGravityOff>
    <material></material>
  </gazebo>
  <gazebo reference="r2/right_ankle_pitch">
    <selfCollide>false</selfCollide>
    <static>false</static>
    <turnGravityOff>false</turnGravityOff>
    <material></material>
  </gazebo>
  <gazebo reference="r2/right_ankle_roll">
    <selfCollide>false</selfCollide>
    <static>false</static>
    <turnGravityOff>false</turnGravityOff>
    <material>Gazebo/DirtyWhite</material>
  </gazebo>
  <gazebo reference="r2/right_leg_foot">
    <selfCollide>false</selfCollide>
    <static>false</static>
    <turnGravityOff>false</turnGravityOff>
    <material></material>
  </gazebo>
  <gazebo reference="r2/right_leg/gripper/link0">
    <selfCollide>false</selfCollide>
    <static>false</static>
    <turnGravityOff>false</turnGravityOff>
    <material></material>
  </gazebo>
  <gazebo reference="r2/right_leg_jaw1">
    <selfCollide>false</selfCollide>
    <static>false</static>
    <turnGravityOff>false</turnGravityOff>
    <material></material>
  </gazebo>
  <gazebo reference="r2/right_leg_jaw2">
    <selfCollide>false</selfCollide>
    <static>false</static>
    <turnGravityOff>false</turnGravityOff>
    <material></material>
  </gazebo>
  <gazebo reference="r2/left_leg/joint0">
    <stopKd value="1.0"/>
    <stopKp value="1000000.0"/>
  </gazebo>
  <gazebo reference="r2/left_leg/joint1">
    <stopKd value="1.0"/>
    <stopKp value="1000000.0"/>
  </gazebo>
  <gazebo reference="r2/left_leg/joint2">
    <stopKd value="1.0"/>
    <stopKp value="1000000.0"/>
  </gazebo>
  <gazebo reference="r2/left_leg/joint3">
    <stopKd value="1.0"/>
    <stopKp value="1000000.0"/>
  </gazebo>
  <gazebo reference="r2/left_leg/joint4">
    <stopKd value="1.0"/>
    <stopKp value="1000000.0"/>
  </gazebo>
  <gazebo reference="r2/left_leg/joint5">
    <stopKd value="1.0"/>
    <stopKp value="1000000.0"/>
  </gazebo>
  <gazebo reference="r2/left_leg/joint6">
    <stopKd value="1.0"/>
    <stopKp value="1000000.0"/>
  </gazebo>
  <gazebo reference="r2/left_leg/gripper/joint0">
    <stopKd value="1.0"/>
    <stopKp value="1000000.0"/>
  </gazebo>
  <gazebo reference="r2/left_leg/gripper/joint1">
    <stopKd value="1.0"/>
    <stopKp value="1000000.0"/>
  </gazebo>
  <gazebo reference="r2/left_leg/gripper/joint2">
    <stopKd value="1.0"/>
    <stopKp value="1000000.0"/>
  </gazebo>
  <gazebo reference="r2/right_leg/joint0">
    <stopKd value="1.0"/>
    <stopKp value="1000000.0"/>
  </gazebo>
  <gazebo reference="r2/right_leg/joint1">
    <stopKd value="1.0"/>
    <stopKp value="1000000.0"/>
  </gazebo>
  <gazebo reference="r2/right_leg/joint2">
    <stopKd value="1.0"/>
    <stopKp value="1000000.0"/>
  </gazebo>
  <gazebo reference="r2/right_leg/joint3">
    <stopKd value="1.0"/>
    <stopKp value="1000000.0"/>
  </gazebo>
  <gazebo reference="r2/right_leg/joint4">
    <stopKd value="1.0"/>
    <stopKp value="1000000.0"/>
  </gazebo>
  <gazebo reference="r2/right_leg/joint5">
    <stopKd value="1.0"/>
    <stopKp value="1000000.0"/>
  </gazebo>
  <gazebo reference="r2/right_leg/joint6">
    <stopKd value="1.0"/>
    <stopKp value="1000000.0"/>
  </gazebo>
  <gazebo reference="r2/right_leg/gripper/joint0">
    <stopKd value="1.0"/>
    <stopKp value="1000000.0"/>
  </gazebo>
  <gazebo reference="r2/right_leg/gripper/joint1">
    <stopKd value="1.0"/>
    <stopKp value="1000000.0"/>
  </gazebo>
  <gazebo reference="r2/right_leg/gripper/joint2">
    <stopKd value="1.0"/>
    <stopKp value="1000000.0"/>
  </gazebo>
  <!--   <xacro:include filename="$(find r2_gazebo)/urdf/sensors/r2_legs.gazebo.sensors.xacro" />
 -->
  <!-- <xacro:include filename="$(find r2_gazebo)/urdf/gazebo_plugins/p3d_base_controller.xacro" />
  <xacro:include filename="$(find r2_gazebo)/urdf/gazebo_plugins/gazebo_interface.xacro" />
  <xacro:include filename="$(find r2_gazebo)/urdf/gazebo_plugins/leg_grippers.xacro" />

 -->
  <transmission name="r2/waist_j0_trans">
    <type>transmission_interface/SimpleTransmission</type>
    <joint name="r2/waist/joint0"/>
    <actuator name="r2/waist_j0_motor">
      <hardwareInterface>EffortJointInterface</hardwareInterface>
      <mechanicalReduction>100</mechanicalReduction>
    </actuator>
    <motorTorqueConstant>0.01</motorTorqueConstant>
  </transmission>
  <transmission name="r2/left_arm_j0_trans">
    <type>transmission_interface/SimpleTransmission</type>
    <joint name="r2/left_arm/joint0"/>
    <actuator name="r2/left_arm_j0_motor">
      <hardwareInterface>EffortJointInterface</hardwareInterface>
      <mechanicalReduction>100</mechanicalReduction>
    </actuator>
    <motorTorqueConstant>0.01</motorTorqueConstant>
  </transmission>
  <transmission name="r2/left_arm_j1_trans">
    <type>transmission_interface/SimpleTransmission</type>
    <joint name="r2/left_arm/joint1"/>
    <actuator name="r2/left_arm_j1_motor">
      <hardwareInterface>EffortJointInterface</hardwareInterface>
      <mechanicalReduction>100</mechanicalReduction>
    </actuator>
    <motorTorqueConstant>0.01</motorTorqueConstant>
  </transmission>
  <transmission name="r2/left_arm_j2_trans">
    <type>transmission_interface/SimpleTransmission</type>
    <joint name="r2/left_arm/joint2"/>
    <actuator name="r2/left_arm_j2_motor">
      <hardwareInterface>EffortJointInterface</hardwareInterface>
      <mechanicalReduction>100</mechanicalReduction>
    </actuator>
    <motorTorqueConstant>0.01</motorTorqueConstant>
  </transmission>
  <transmission name="r2/left_arm_j3_trans">
    <type>transmission_interface/SimpleTransmission</type>
    <joint name="r2/left_arm/joint3"/>
    <actuator name="r2/left_arm_j3_motor">
      <hardwareInterface>EffortJointInterface</hardwareInterface>
      <mechanicalReduction>100</mechanicalReduction>
    </actuator>
    <motorTorqueConstant>0.01</motorTorqueConstant>
  </transmission>
  <transmission name="r2/left_arm_j4_trans">
    <type>transmission_interface/SimpleTransmission</type>
    <joint name="r2/left_arm/joint4"/>
    <actuator name="r2/left_arm_j4_motor">
      <hardwareInterface>EffortJointInterface</hardwareInterface>
      <mechanicalReduction>100</mechanicalReduction>
    </actuator>
    <motorTorqueConstant>0.01</motorTorqueConstant>
  </transmission>
  <transmission name="r2/left_arm_j5_trans">
    <type>transmission_interface/SimpleTransmission</type>
    <joint name="r2/left_arm/joint5"/>
    <actuator name="r2/left_arm_j5_motor">
      <hardwareInterface>EffortJointInterface</hardwareInterface>
      <mechanicalReduction>100</mechanicalReduction>
    </actuator>
    <motorTorqueConstant>0.01</motorTorqueConstant>
  </transmission>
  <transmission name="r2/left_arm_j6_trans">
    <type>transmission_interface/SimpleTransmission</type>
    <joint name="r2/left_arm/joint6"/>
    <actuator name="r2/left_arm_j6_motor">
      <hardwareInterface>EffortJointInterface</hardwareInterface>
      <mechanicalReduction>100</mechanicalReduction>
    </actuator>
    <motorTorqueConstant>0.01</motorTorqueConstant>
  </transmission>
  <transmission name="r2/left_arm/hand/thumb_j0_trans">
    <type>transmission_interface/SimpleTransmission</type>
    <joint name="r2/left_arm/hand/thumb/joint0"/>
    <actuator name="r2/left_arm/hand/thumb_j0_motor">
      <hardwareInterface>EffortJointInterface</hardwareInterface>
      <mechanicalReduction>100</mechanicalReduction>
    </actuator>
    <motorTorqueConstant>0.01</motorTorqueConstant>
  </transmission>
  <transmission name="r2/left_arm/hand/thumb_j1_trans">
    <type>transmission_interface/SimpleTransmission</type>
    <joint name="r2/left_arm/hand/thumb/joint1"/>
    <actuator name="r2/left_arm/hand/thumb_j1_motor">
      <hardwareInterface>EffortJointInterface</hardwareInterface>
      <mechanicalReduction>100</mechanicalReduction>
    </actuator>
    <motorTorqueConstant>0.01</motorTorqueConstant>
  </transmission>
  <transmission name="r2/left_arm/hand/thumb_j2_trans">
    <type>transmission_interface/SimpleTransmission</type>
    <joint name="r2/left_arm/hand/thumb/joint2"/>
    <actuator name="r2/left_arm/hand/thumb_j2_motor">
      <hardwareInterface>EffortJointInterface</hardwareInterface>
      <mechanicalReduction>100</mechanicalReduction>
    </actuator>
    <motorTorqueConstant>0.01</motorTorqueConstant>
  </transmission>
  <transmission name="r2/left_arm/hand/thumb_j3_trans">
    <type>transmission_interface/SimpleTransmission</type>
    <joint name="r2/left_arm/hand/thumb/joint3"/>
    <actuator name="r2/left_arm/hand/thumb_j3_motor">
      <hardwareInterface>EffortJointInterface</hardwareInterface>
      <mechanicalReduction>100</mechanicalReduction>
    </actuator>
    <motorTorqueConstant>0.01</motorTorqueConstant>
  </transmission>
  <transmission name="r2/left_arm/hand/index_j0_trans">
    <type>transmission_interface/SimpleTransmission</type>
    <joint name="r2/left_arm/hand/index/joint0"/>
    <actuator name="r2/left_arm/hand/index_j0_motor">
      <hardwareInterface>EffortJointInterface</hardwareInterface>
      <mechanicalReduction>100</mechanicalReduction>
    </actuator>
    <motorTorqueConstant>0.01</motorTorqueConstant>
  </transmission>
  <transmission name="r2/left_arm/hand/index_j1_trans">
    <type>transmission_interface/SimpleTransmission</type>
    <joint name="r2/left_arm/hand/index/joint1"/>
    <actuator name="r2/left_arm/hand/index_j1_motor">
      <hardwareInterface>EffortJointInterface</hardwareInterface>
      <mechanicalReduction>100</mechanicalReduction>
    </actuator>
    <motorTorqueConstant>0.01</motorTorqueConstant>
  </transmission>
  <transmission name="r2/left_arm/hand/index_j2_trans">
    <type>transmission_interface/SimpleTransmission</type>
    <joint name="r2/left_arm/hand/index/joint2"/>
    <actuator name="r2/left_arm/hand/index_j2_motor">
      <hardwareInterface>EffortJointInterface</hardwareInterface>
      <mechanicalReduction>100</mechanicalReduction>
    </actuator>
    <motorTorqueConstant>0.01</motorTorqueConstant>
  </transmission>
  <transmission name="r2/left_arm/hand/index_j3_trans">
    <type>transmission_interface/SimpleTransmission</type>
    <joint name="r2/left_arm/hand/index/joint3"/>
    <actuator name="r2/left_arm/hand/index_j3_motor">
      <hardwareInterface>EffortJointInterface</hardwareInterface>
      <mechanicalReduction>100</mechanicalReduction>
    </actuator>
    <motorTorqueConstant>0.01</motorTorqueConstant>
  </transmission>
  <transmission name="r2/left_arm/hand/middle_j0_trans">
    <type>transmission_interface/SimpleTransmission</type>
    <joint name="r2/left_arm/hand/middle/joint0"/>
    <actuator name="r2/left_arm/hand/middle_j0_motor">
      <hardwareInterface>EffortJointInterface</hardwareInterface>
      <mechanicalReduction>100</mechanicalReduction>
    </actuator>
    <motorTorqueConstant>0.01</motorTorqueConstant>
  </transmission>
  <transmission name="r2/left_arm/hand/middle_j1_trans">
    <type>transmission_interface/SimpleTransmission</type>
    <joint name="r2/left_arm/hand/middle/joint1"/>
    <actuator name="r2/left_arm/hand/middle_j1_motor">
      <hardwareInterface>EffortJointInterface</hardwareInterface>
      <mechanicalReduction>100</mechanicalReduction>
    </actuator>
    <motorTorqueConstant>0.01</motorTorqueConstant>
  </transmission>
  <transmission name="r2/left_arm/hand/middle_j2_trans">
    <type>transmission_interface/SimpleTransmission</type>
    <joint name="r2/left_arm/hand/middle/joint2"/>
    <actuator name="r2/left_arm/hand/middle_j2_motor">
      <hardwareInterface>EffortJointInterface</hardwareInterface>
      <mechanicalReduction>100</mechanicalReduction>
    </actuator>
    <motorTorqueConstant>0.01</motorTorqueConstant>
  </transmission>
  <transmission name="r2/left_arm/hand/middle_j3_trans">
    <type>transmission_interface/SimpleTransmission</type>
    <joint name="r2/left_arm/hand/middle/joint3"/>
    <actuator name="r2/left_arm/hand/middle_j3_motor">
      <hardwareInterface>EffortJointInterface</hardwareInterface>
      <mechanicalReduction>100</mechanicalReduction>
    </actuator>
    <motorTorqueConstant>0.01</motorTorqueConstant>
  </transmission>
  <transmission name="r2/left_arm/hand/ring_j0_trans">
    <type>transmission_interface/SimpleTransmission</type>
    <joint name="r2/left_arm/hand/ring/joint0"/>
    <actuator name="r2/left_arm/hand/ring_j0_motor">
      <hardwareInterface>EffortJointInterface</hardwareInterface>
      <mechanicalReduction>100</mechanicalReduction>
    </actuator>
    <motorTorqueConstant>0.01</motorTorqueConstant>
  </transmission>
  <transmission name="r2/left_arm/hand/ring_j1_trans">
    <type>transmission_interface/SimpleTransmission</type>
    <joint name="r2/left_arm/hand/ring/joint1"/>
    <actuator name="r2/left_arm/hand/ring_j1_motor">
      <hardwareInterface>EffortJointInterface</hardwareInterface>
      <mechanicalReduction>100</mechanicalReduction>
    </actuator>
    <motorTorqueConstant>0.01</motorTorqueConstant>
  </transmission>
  <transmission name="r2/left_arm/hand/ring_j2_trans">
    <type>transmission_interface/SimpleTransmission</type>
    <joint name="r2/left_arm/hand/ring/joint2"/>
    <actuator name="r2/left_arm/hand/ring_j2_motor">
      <hardwareInterface>EffortJointInterface</hardwareInterface>
      <mechanicalReduction>100</mechanicalReduction>
    </actuator>
    <motorTorqueConstant>0.01</motorTorqueConstant>
  </transmission>
  <transmission name="r2/left_arm/hand/little_j0_trans">
    <type>transmission_interface/SimpleTransmission</type>
    <joint name="r2/left_arm/hand/little/joint0"/>
    <actuator name="r2/left_arm/hand/little_j0_motor">
      <hardwareInterface>EffortJointInterface</hardwareInterface>
      <mechanicalReduction>100</mechanicalReduction>
    </actuator>
    <motorTorqueConstant>0.01</motorTorqueConstant>
  </transmission>
  <transmission name="r2/left_arm/hand/little_j1_trans">
    <type>transmission_interface/SimpleTransmission</type>
    <joint name="r2/left_arm/hand/little/joint1"/>
    <actuator name="r2/left_arm/hand/little_j1_motor">
      <hardwareInterface>EffortJointInterface</hardwareInterface>
      <mechanicalReduction>100</mechanicalReduction>
    </actuator>
    <motorTorqueConstant>0.01</motorTorqueConstant>
  </transmission>
  <transmission name="r2/left_arm/hand/little_j2_trans">
    <type>transmission_interface/SimpleTransmission</type>
    <joint name="r2/left_arm/hand/little/joint2"/>
    <actuator name="r2/left_arm/hand/little_j2_motor">
      <hardwareInterface>EffortJointInterface</hardwareInterface>
      <mechanicalReduction>100</mechanicalReduction>
    </actuator>
    <motorTorqueConstant>0.01</motorTorqueConstant>
  </transmission>
  <transmission name="r2/right_arm_j0_trans">
    <type>transmission_interface/SimpleTransmission</type>
    <joint name="r2/right_arm/joint0"/>
    <actuator name="r2/right_arm_j0_motor">
      <hardwareInterface>EffortJointInterface</hardwareInterface>
      <mechanicalReduction>100</mechanicalReduction>
    </actuator>
    <motorTorqueConstant>0.01</motorTorqueConstant>
  </transmission>
  <transmission name="r2/right_arm_j1_trans">
    <type>transmission_interface/SimpleTransmission</type>
    <joint name="r2/right_arm/joint1"/>
    <actuator name="r2/right_arm_j1_motor">
      <hardwareInterface>EffortJointInterface</hardwareInterface>
      <mechanicalReduction>100</mechanicalReduction>
    </actuator>
    <motorTorqueConstant>0.01</motorTorqueConstant>
  </transmission>
  <transmission name="r2/right_arm_j2_trans">
    <type>transmission_interface/SimpleTransmission</type>
    <joint name="r2/right_arm/joint2"/>
    <actuator name="r2/right_arm_j2_motor">
      <hardwareInterface>EffortJointInterface</hardwareInterface>
      <mechanicalReduction>100</mechanicalReduction>
    </actuator>
    <motorTorqueConstant>0.01</motorTorqueConstant>
  </transmission>
  <transmission name="r2/right_arm_j3_trans">
    <type>transmission_interface/SimpleTransmission</type>
    <joint name="r2/right_arm/joint3"/>
    <actuator name="r2/right_arm_j3_motor">
      <hardwareInterface>EffortJointInterface</hardwareInterface>
      <mechanicalReduction>100</mechanicalReduction>
    </actuator>
    <motorTorqueConstant>0.01</motorTorqueConstant>
  </transmission>
  <transmission name="r2/right_arm_j4_trans">
    <type>transmission_interface/SimpleTransmission</type>
    <joint name="r2/right_arm/joint4"/>
    <actuator name="r2/right_arm_j4_motor">
      <hardwareInterface>EffortJointInterface</hardwareInterface>
      <mechanicalReduction>100</mechanicalReduction>
    </actuator>
    <motorTorqueConstant>0.01</motorTorqueConstant>
  </transmission>
  <transmission name="r2/right_arm_j5_trans">
    <type>transmission_interface/SimpleTransmission</type>
    <joint name="r2/right_arm/joint5"/>
    <actuator name="r2/right_arm_j5_motor">
      <hardwareInterface>EffortJointInterface</hardwareInterface>
      <mechanicalReduction>100</mechanicalReduction>
    </actuator>
    <motorTorqueConstant>0.01</motorTorqueConstant>
  </transmission>
  <transmission name="r2/right_arm_j6_trans">
    <type>transmission_interface/SimpleTransmission</type>
    <joint name="r2/right_arm/joint6"/>
    <actuator name="r2/right_arm_j6_motor">
      <hardwareInterface>EffortJointInterface</hardwareInterface>
      <mechanicalReduction>100</mechanicalReduction>
    </actuator>
    <motorTorqueConstant>0.01</motorTorqueConstant>
  </transmission>
  <transmission name="r2/right_arm/hand/thumb_j0_trans">
    <type>transmission_interface/SimpleTransmission</type>
    <joint name="r2/right_arm/hand/thumb/joint0"/>
    <actuator name="r2/right_arm/hand/thumb_j0_motor">
      <hardwareInterface>EffortJointInterface</hardwareInterface>
      <mechanicalReduction>100</mechanicalReduction>
    </actuator>
    <motorTorqueConstant>0.01</motorTorqueConstant>
  </transmission>
  <transmission name="r2/right_arm/hand/thumb_j1_trans">
    <type>transmission_interface/SimpleTransmission</type>
    <joint name="r2/right_arm/hand/thumb/joint1"/>
    <actuator name="r2/right_arm/hand/thumb_j1_motor">
      <hardwareInterface>EffortJointInterface</hardwareInterface>
      <mechanicalReduction>100</mechanicalReduction>
    </actuator>
    <motorTorqueConstant>0.01</motorTorqueConstant>
  </transmission>
  <transmission name="r2/right_arm/hand/thumb_j2_trans">
    <type>transmission_interface/SimpleTransmission</type>
    <joint name="r2/right_arm/hand/thumb/joint2"/>
    <actuator name="r2/right_arm/hand/thumb_j2_motor">
      <hardwareInterface>EffortJointInterface</hardwareInterface>
      <mechanicalReduction>100</mechanicalReduction>
    </actuator>
    <motorTorqueConstant>0.01</motorTorqueConstant>
  </transmission>
  <transmission name="r2/right_arm/hand/thumb_j3_trans">
    <type>transmission_interface/SimpleTransmission</type>
    <joint name="r2/right_arm/hand/thumb/joint3"/>
    <actuator name="r2/right_arm/hand/thumb_j3_motor">
      <hardwareInterface>EffortJointInterface</hardwareInterface>
      <mechanicalReduction>100</mechanicalReduction>
    </actuator>
    <motorTorqueConstant>0.01</motorTorqueConstant>
  </transmission>
  <transmission name="r2/right_arm/hand/index_j0_trans">
    <type>transmission_interface/SimpleTransmission</type>
    <joint name="r2/right_arm/hand/index/joint0"/>
    <actuator name="r2/right_arm/hand/index_j0_motor">
      <hardwareInterface>EffortJointInterface</hardwareInterface>
      <mechanicalReduction>100</mechanicalReduction>
    </actuator>
    <motorTorqueConstant>0.01</motorTorqueConstant>
  </transmission>
  <transmission name="r2/right_arm/hand/index_j1_trans">
    <type>transmission_interface/SimpleTransmission</type>
    <joint name="r2/right_arm/hand/index/joint1"/>
    <actuator name="r2/right_arm/hand/index_j1_motor">
      <hardwareInterface>EffortJointInterface</hardwareInterface>
      <mechanicalReduction>100</mechanicalReduction>
    </actuator>
    <motorTorqueConstant>0.01</motorTorqueConstant>
  </transmission>
  <transmission name="r2/right_arm/hand/index_j2_trans">
    <type>transmission_interface/SimpleTransmission</type>
    <joint name="r2/right_arm/hand/index/joint2"/>
    <actuator name="r2/right_arm/hand/index_j2_motor">
      <hardwareInterface>EffortJointInterface</hardwareInterface>
      <mechanicalReduction>100</mechanicalReduction>
    </actuator>
    <motorTorqueConstant>0.01</motorTorqueConstant>
  </transmission>
  <transmission name="r2/right_arm/hand/index_j3_trans">
    <type>transmission_interface/SimpleTransmission</type>
    <joint name="r2/right_arm/hand/index/joint3"/>
    <actuator name="r2/right_arm/hand/index_j3_motor">
      <hardwareInterface>EffortJointInterface</hardwareInterface>
      <mechanicalReduction>100</mechanicalReduction>
    </actuator>
    <motorTorqueConstant>0.01</motorTorqueConstant>
  </transmission>
  <transmission name="r2/right_arm/hand/middle_j0_trans">
    <type>transmission_interface/SimpleTransmission</type>
    <joint name="r2/right_arm/hand/middle/joint0"/>
    <actuator name="r2/right_arm/hand/middle_j0_motor">
      <hardwareInterface>EffortJointInterface</hardwareInterface>
      <mechanicalReduction>100</mechanicalReduction>
    </actuator>
    <motorTorqueConstant>0.01</motorTorqueConstant>
  </transmission>
  <transmission name="r2/right_arm/hand/middle_j1_trans">
    <type>transmission_interface/SimpleTransmission</type>
    <joint name="r2/right_arm/hand/middle/joint1"/>
    <actuator name="r2/right_arm/hand/middle_j1_motor">
      <hardwareInterface>EffortJointInterface</hardwareInterface>
      <mechanicalReduction>100</mechanicalReduction>
    </actuator>
    <motorTorqueConstant>0.01</motorTorqueConstant>
  </transmission>
  <transmission name="r2/right_arm/hand/middle_j2_trans">
    <type>transmission_interface/SimpleTransmission</type>
    <joint name="r2/right_arm/hand/middle/joint2"/>
    <actuator name="r2/right_arm/hand/middle_j2_motor">
      <hardwareInterface>EffortJointInterface</hardwareInterface>
      <mechanicalReduction>100</mechanicalReduction>
    </actuator>
    <motorTorqueConstant>0.01</motorTorqueConstant>
  </transmission>
  <transmission name="r2/right_arm/hand/middle_j3_trans">
    <type>transmission_interface/SimpleTransmission</type>
    <joint name="r2/right_arm/hand/middle/joint3"/>
    <actuator name="r2/right_arm/hand/middle_j3_motor">
      <hardwareInterface>EffortJointInterface</hardwareInterface>
      <mechanicalReduction>100</mechanicalReduction>
    </actuator>
    <motorTorqueConstant>0.01</motorTorqueConstant>
  </transmission>
  <transmission name="r2/right_arm/hand/ring_j0_trans">
    <type>transmission_interface/SimpleTransmission</type>
    <joint name="r2/right_arm/hand/ring/joint0"/>
    <actuator name="r2/right_arm/hand/ring_j0_motor">
      <hardwareInterface>EffortJointInterface</hardwareInterface>
      <mechanicalReduction>100</mechanicalReduction>
    </actuator>
    <motorTorqueConstant>0.01</motorTorqueConstant>
  </transmission>
  <transmission name="r2/right_arm/hand/ring_j1_trans">
    <type>transmission_interface/SimpleTransmission</type>
    <joint name="r2/right_arm/hand/ring/joint1"/>
    <actuator name="r2/right_arm/hand/ring_j1_motor">
      <hardwareInterface>EffortJointInterface</hardwareInterface>
      <mechanicalReduction>100</mechanicalReduction>
    </actuator>
    <motorTorqueConstant>0.01</motorTorqueConstant>
  </transmission>
  <transmission name="r2/right_arm/hand/ring_j2_trans">
    <type>transmission_interface/SimpleTransmission</type>
    <joint name="r2/right_arm/hand/ring/joint2"/>
    <actuator name="r2/right_arm/hand/ring_j2_motor">
      <hardwareInterface>EffortJointInterface</hardwareInterface>
      <mechanicalReduction>100</mechanicalReduction>
    </actuator>
    <motorTorqueConstant>0.01</motorTorqueConstant>
  </transmission>
  <transmission name="r2/right_arm/hand/little_j0_trans">
    <type>transmission_interface/SimpleTransmission</type>
    <joint name="r2/right_arm/hand/little/joint0"/>
    <actuator name="r2/right_arm/hand/little_j0_motor">
      <hardwareInterface>EffortJointInterface</hardwareInterface>
      <mechanicalReduction>100</mechanicalReduction>
    </actuator>
    <motorTorqueConstant>0.01</motorTorqueConstant>
  </transmission>
  <transmission name="r2/right_arm/hand/little_j1_trans">
    <type>transmission_interface/SimpleTransmission</type>
    <joint name="r2/right_arm/hand/little/joint1"/>
    <actuator name="r2/right_arm/hand/little_j1_motor">
      <hardwareInterface>EffortJointInterface</hardwareInterface>
      <mechanicalReduction>100</mechanicalReduction>
    </actuator>
    <motorTorqueConstant>0.01</motorTorqueConstant>
  </transmission>
  <transmission name="r2/right_arm/hand/little_j2_trans">
    <type>transmission_interface/SimpleTransmission</type>
    <joint name="r2/right_arm/hand/little/joint2"/>
    <actuator name="r2/right_arm/hand/little_j2_motor">
      <hardwareInterface>EffortJointInterface</hardwareInterface>
      <mechanicalReduction>100</mechanicalReduction>
    </actuator>
    <motorTorqueConstant>0.01</motorTorqueConstant>
  </transmission>
  <transmission name="r2/neck_j0_trans">
    <type>transmission_interface/SimpleTransmission</type>
    <joint name="r2/neck/joint0"/>
    <actuator name="r2/neck_j0_motor">
      <hardwareInterface>EffortJointInterface</hardwareInterface>
      <mechanicalReduction>100</mechanicalReduction>
    </actuator>
    <motorTorqueConstant>0.01</motorTorqueConstant>
  </transmission>
  <transmission name="r2/neck_j1_trans">
    <type>transmission_interface/SimpleTransmission</type>
    <joint name="r2/neck/joint1"/>
    <actuator name="r2/neck_j1_motor">
      <hardwareInterface>EffortJointInterface</hardwareInterface>
      <mechanicalReduction>100</mechanicalReduction>
    </actuator>
    <motorTorqueConstant>0.01</motorTorqueConstant>
  </transmission>
  <transmission name="r2/neck_j2_trans">
    <type>transmission_interface/SimpleTransmission</type>
    <joint name="r2/neck/joint2"/>
    <actuator name="r2/neck_j2_motor">
      <hardwareInterface>EffortJointInterface</hardwareInterface>
      <mechanicalReduction>100</mechanicalReduction>
    </actuator>
    <motorTorqueConstant>0.01</motorTorqueConstant>
  </transmission>
  <transmission name="r2/left_leg_j0_trans">
    <type>transmission_interface/SimpleTransmission</type>
    <joint name="r2/left_leg/joint0"/>
    <actuator name="r2/left_leg_j0_motor">
      <hardwareInterface>EffortJointInterface</hardwareInterface>
      <mechanicalReduction>100</mechanicalReduction>
    </actuator>
    <motorTorqueConstant>0.01</motorTorqueConstant>
  </transmission>
  <transmission name="r2/left_leg_j1_trans">
    <type>transmission_interface/SimpleTransmission</type>
    <joint name="r2/left_leg/joint1"/>
    <actuator name="r2/left_leg_j1_motor">
      <hardwareInterface>EffortJointInterface</hardwareInterface>
      <mechanicalReduction>100</mechanicalReduction>
    </actuator>
    <motorTorqueConstant>0.01</motorTorqueConstant>
  </transmission>
  <transmission name="r2/left_leg_j2_trans">
    <type>transmission_interface/SimpleTransmission</type>
    <joint name="r2/left_leg/joint2"/>
    <actuator name="r2/left_leg_j2_motor">
      <hardwareInterface>EffortJointInterface</hardwareInterface>
      <mechanicalReduction>100</mechanicalReduction>
    </actuator>
    <motorTorqueConstant>0.01</motorTorqueConstant>
  </transmission>
  <transmission name="r2/left_leg_j3_trans">
    <type>transmission_interface/SimpleTransmission</type>
    <joint name="r2/left_leg/joint3"/>
    <actuator name="r2/left_leg_j3_motor">
      <hardwareInterface>EffortJointInterface</hardwareInterface>
      <mechanicalReduction>100</mechanicalReduction>
    </actuator>
    <motorTorqueConstant>0.01</motorTorqueConstant>
  </transmission>
  <transmission name="r2/left_leg_j4_trans">
    <type>transmission_interface/SimpleTransmission</type>
    <joint name="r2/left_leg/joint4"/>
    <actuator name="r2/left_leg_j4_motor">
      <hardwareInterface>EffortJointInterface</hardwareInterface>
      <mechanicalReduction>100</mechanicalReduction>
    </actuator>
    <motorTorqueConstant>0.01</motorTorqueConstant>
  </transmission>
  <transmission name="r2/left_leg_j5_trans">
    <type>transmission_interface/SimpleTransmission</type>
    <joint name="r2/left_leg/joint5"/>
    <actuator name="r2/left_leg_j5_motor">
      <hardwareInterface>EffortJointInterface</hardwareInterface>
      <mechanicalReduction>100</mechanicalReduction>
    </actuator>
    <motorTorqueConstant>0.01</motorTorqueConstant>
  </transmission>
  <transmission name="r2/left_leg_j6_trans">
    <type>transmission_interface/SimpleTransmission</type>
    <joint name="r2/left_leg/joint6"/>
    <actuator name="r2/left_leg_j6_motor">
      <hardwareInterface>EffortJointInterface</hardwareInterface>
      <mechanicalReduction>100</mechanicalReduction>
    </actuator>
    <motorTorqueConstant>0.01</motorTorqueConstant>
  </transmission>
  <transmission name="r2/left_leg/gripper_j0_trans">
    <type>transmission_interface/SimpleTransmission</type>
    <joint name="r2/left_leg/gripper/joint0"/>
    <actuator name="r2/left_leg/gripper_j0_motor">
      <hardwareInterface>EffortJointInterface</hardwareInterface>
      <mechanicalReduction>100</mechanicalReduction>
    </actuator>
    <motorTorqueConstant>0.01</motorTorqueConstant>
  </transmission>
  <transmission name="r2/left_leg/gripper_j1_trans">
    <type>transmission_interface/SimpleTransmission</type>
    <joint name="r2/left_leg/gripper/joint1"/>
    <actuator name="r2/left_leg/gripper_j1_motor">
      <hardwareInterface>EffortJointInterface</hardwareInterface>
      <mechanicalReduction>100</mechanicalReduction>
    </actuator>
    <motorTorqueConstant>0.01</motorTorqueConstant>
  </transmission>
  <transmission name="r2/left_leg/gripper_j2_trans">
    <type>transmission_interface/SimpleTransmission</type>
    <joint name="r2/left_leg/gripper/joint2"/>
    <actuator name="r2/left_leg/gripper_j2_motor">
      <hardwareInterface>EffortJointInterface</hardwareInterface>
      <mechanicalReduction>100</mechanicalReduction>
    </actuator>
    <motorTorqueConstant>0.01</motorTorqueConstant>
  </transmission>
  <transmission name="r2/right_leg_j0_trans">
    <type>transmission_interface/SimpleTransmission</type>
    <joint name="r2/right_leg/joint0"/>
    <actuator name="r2/right_leg_j0_motor">
      <hardwareInterface>EffortJointInterface</hardwareInterface>
      <mechanicalReduction>100</mechanicalReduction>
    </actuator>
    <motorTorqueConstant>0.01</motorTorqueConstant>
  </transmission>
  <transmission name="r2/right_leg_j1_trans">
    <type>transmission_interface/SimpleTransmission</type>
    <joint name="r2/right_leg/joint1"/>
    <actuator name="r2/right_leg_j1_motor">
      <hardwareInterface>EffortJointInterface</hardwareInterface>
      <mechanicalReduction>100</mechanicalReduction>
    </actuator>
    <motorTorqueConstant>0.01</motorTorqueConstant>
  </transmission>
  <transmission name="r2/right_leg_j2_trans">
    <type>transmission_interface/SimpleTransmission</type>
    <joint name="r2/right_leg/joint2"/>
    <actuator name="r2/right_leg_j2_motor">
      <hardwareInterface>EffortJointInterface</hardwareInterface>
      <mechanicalReduction>100</mechanicalReduction>
    </actuator>
    <motorTorqueConstant>0.01</motorTorqueConstant>
  </transmission>
  <transmission name="r2/right_leg_j3_trans">
    <type>transmission_interface/SimpleTransmission</type>
    <joint name="r2/right_leg/joint3"/>
    <actuator name="r2/right_leg_j3_motor">
      <hardwareInterface>EffortJointInterface</hardwareInterface>
      <mechanicalReduction>100</mechanicalReduction>
    </actuator>
    <motorTorqueConstant>0.01</motorTorqueConstant>
  </transmission>
  <transmission name="r2/right_leg_j4_trans">
    <type>transmission_interface/SimpleTransmission</type>
    <joint name="r2/right_leg/joint4"/>
    <actuator name="r2/right_leg_j4_motor">
      <hardwareInterface>EffortJointInterface</hardwareInterface>
      <mechanicalReduction>100</mechanicalReduction>
    </actuator>
    <motorTorqueConstant>0.01</motorTorqueConstant>
  </transmission>
  <transmission name="r2/right_leg_j5_trans">
    <type>transmission_interface/SimpleTransmission</type>
    <joint name="r2/right_leg/joint5"/>
    <actuator name="r2/right_leg_j5_motor">
      <hardwareInterface>EffortJointInterface</hardwareInterface>
      <mechanicalReduction>100</mechanicalReduction>
    </actuator>
    <motorTorqueConstant>0.01</motorTorqueConstant>
  </transmission>
  <transmission name="r2/right_leg_j6_trans">
    <type>transmission_interface/SimpleTransmission</type>
    <joint name="r2/right_leg/joint6"/>
    <actuator name="r2/right_leg_j6_motor">
      <hardwareInterface>EffortJointInterface</hardwareInterface>
      <mechanicalReduction>100</mechanicalReduction>
    </actuator>
    <motorTorqueConstant>0.01</motorTorqueConstant>
  </transmission>
  <transmission name="r2/right_leg/gripper_j0_trans">
    <type>transmission_interface/SimpleTransmission</type>
    <joint name="r2/right_leg/gripper/joint0"/>
    <actuator name="r2/right_leg/gripper_j0_motor">
      <hardwareInterface>EffortJointInterface</hardwareInterface>
      <mechanicalReduction>100</mechanicalReduction>
    </actuator>
    <motorTorqueConstant>0.01</motorTorqueConstant>
  </transmission>
  <transmission name="r2/right_leg/gripper_j1_trans">
    <type>transmission_interface/SimpleTransmission</type>
    <joint name="r2/right_leg/gripper/joint1"/>
    <actuator name="r2/right_leg/gripper_j1_motor">
      <hardwareInterface>EffortJointInterface</hardwareInterface>
      <mechanicalReduction>100</mechanicalReduction>
    </actuator>
    <motorTorqueConstant>0.01</motorTorqueConstant>
  </transmission>
  <transmission name="r2/right_leg/gripper_j2_trans">
    <type>transmission_interface/SimpleTransmission</type>
    <joint name="r2/right_leg/gripper/joint2"/>
    <actuator name="r2/right_leg/gripper_j2_motor">
      <hardwareInterface>EffortJointInterface</hardwareInterface>
      <mechanicalReduction>100</mechanicalReduction>
    </actuator>
    <motorTorqueConstant>0.01</motorTorqueConstant>
  </transmission>
</robot>
